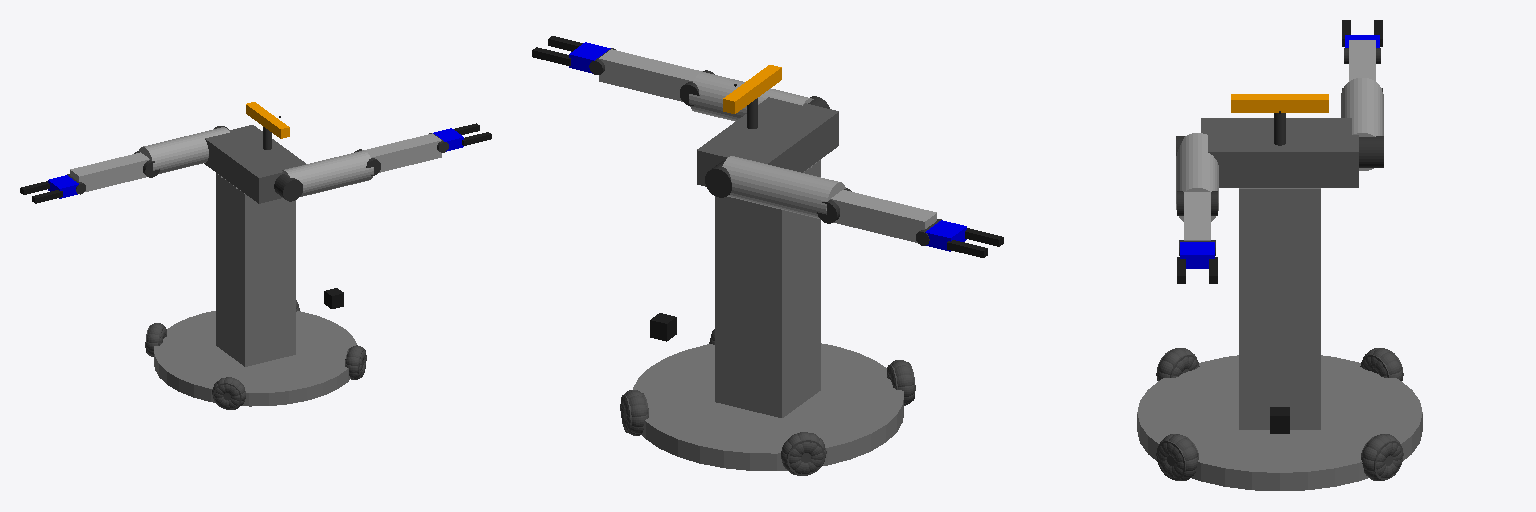
--- Facts derived from the render (not from the file) ---
The picture shows the robot from 3 angles, left to right: view 1: azimuth 30°, elevation 25°; view 2: azimuth 150°, elevation 25°; view 3: azimuth 270°, elevation 25°; orthographic projection.
Model amigo with 85 links and 84 joints (22 revolute, 52 continuous, 1 prismatic, 9 fixed), rooted at base_link, posed all joints at 0 but 2 set to mid-range because 0 is outside their limits (wrist_pitch_joint_left = -1.57, wrist_pitch_joint_right = -1.57).
Links seen in each view (by area): view 1: base_link, base, torso_slider, torso, upper_arm_right, upper_arm_left, fore_arm_left, fore_arm_right, head, shoulder_link1_right; view 2: base_link, torso_slider, base, torso, upper_arm_left, fore_arm_left, fore_arm_right, upper_arm_right, head, hand_left, shoulder_link1_left, hand_right (+1 smaller); view 3: base_link, torso_slider, torso, base, upper_arm_right, upper_arm_left, head, fore_arm_right, fore_arm_left, hand_right, shoulder_link1_left, base_laser.
Boxes of the visible links, x1,y1,x2,y2 form: base_link: (154, 311, 356, 406); base: (216, 174, 295, 366); torso_slider: (216, 173, 295, 366); torso: (204, 125, 305, 203); upper_arm_right: (282, 150, 373, 196); upper_arm_left: (139, 127, 229, 173); fore_arm_left: (70, 152, 149, 191); fore_arm_right: (362, 133, 441, 172); head: (246, 102, 289, 138); shoulder_link1_right: (274, 174, 302, 201); base_link: (633, 343, 903, 470); torso_slider: (715, 160, 820, 417); base: (715, 161, 820, 417); torso: (697, 97, 838, 186); upper_arm_left: (722, 156, 845, 218); fore_arm_left: (830, 190, 936, 242); fore_arm_right: (599, 49, 702, 101); upper_arm_right: (689, 72, 813, 121); head: (723, 65, 781, 113); hand_left: (925, 220, 966, 251); shoulder_link1_left: (705, 160, 731, 197); hand_right: (569, 42, 610, 73); base_link: (1137, 355, 1422, 490); torso_slider: (1239, 188, 1320, 309); torso: (1201, 118, 1358, 187); base: (1239, 310, 1320, 429); upper_arm_right: (1176, 133, 1218, 221); upper_arm_left: (1341, 78, 1383, 170); head: (1231, 94, 1328, 112); fore_arm_right: (1184, 192, 1210, 240); fore_arm_left: (1349, 40, 1375, 81); hand_right: (1180, 242, 1214, 268); shoulder_link1_left: (1359, 136, 1383, 167); base_laser: (1270, 407, 1289, 433).
Size in the robot's own frame: 1.57 by 0.7 by 0.9407 metres.
Geometry: primitives only (box / cylinder / sphere), no mesh files.

URDF robot description (amigo):
<?xml version="1.0" ?>
<!-- =================================================================================== -->
<!-- |    This document was autogenerated by xacro from robot.urdf.xacro               | -->
<!-- |    EDITING THIS FILE BY HAND IS NOT RECOMMENDED                                 | -->
<!-- =================================================================================== -->
<robot name="amigo" xmlns:controller="http://playerstage.sourceforge.net/gazebo/xmlschema/#controller" xmlns:interface="http://playerstage.sourceforge.net/gazebo/xmlschema/#interface" xmlns:sensor="http://playerstage.sourceforge.net/gazebo/xmlschema/#sensor" xmlns:xacro="http://ros.org/wiki/xacro">
  <!--get plugins -->
  <gazebo>
    <controller:gazebo_ros_time name="gazebo_ros_time" plugin="libgazebo_ros_time.so">
      <alwaysOn>true</alwaysOn>
      <updateRate>1000.0</updateRate>
      <interface:audio name="dummy_gazebo_ros_time_iface_should_not_be_here"/>
    </controller:gazebo_ros_time>
    <controller:gazebo_ros_controller_manager name="gazebo_ros_controller_manager" plugin="libgazebo_ros_controller_manager.so">
      <alwaysOn>true</alwaysOn>
      <updateRate>1000.0</updateRate>
      <interface:audio name="gazebo_ros_controller_manager_dummy_iface"/>
    </controller:gazebo_ros_controller_manager>
    <controller:gazebo_ros_imu name="imu_controller" plugin="libgazebo_ros_imu.so">
      <alwaysOn>true</alwaysOn>
      <updateRate>1000.0</updateRate>
      <bodyName>base_link</bodyName>
      <topicName>body_pose_ground_truth</topicName>
      <xyzOffsets>0.0 0.0 0</xyzOffsets>
      <rpyOffsets>0 0 0</rpyOffsets>
      <interface:position name="imu_position_iface"/>
    </controller:gazebo_ros_imu>
    <controller:gazebo_ros_p3d name="base_controller" plugin="libgazebo_ros_p3d.so">
      <alwaysOn>true</alwaysOn>
      <updateRate>100.0</updateRate>
      <bodyName>base_link</bodyName>
      <topicName>base_pose_ground_truth</topicName>
      <gaussianNoise>0.01</gaussianNoise>
      <frameName>map</frameName>
      <xyzOffsets>25.7 25.7 0</xyzOffsets>
      <!-- initialize odometry for fake localization-->
      <rpyOffsets>0 0 0</rpyOffsets>
      <interface:position name="p3d_base_position"/>
    </controller:gazebo_ros_p3d>
  </gazebo>
  <gazebo reference="base_laser">
    <sensor:ray name="base_ray_sensor">
      <origin>0.0 0.0 0.0</origin>
      <rayCount>683</rayCount>
      <rangeCount>683</rangeCount>
      <laserCount>1</laserCount>
      <displayRays>false</displayRays>
      <minAngle>-135</minAngle>
      <maxAngle> 135</maxAngle>
      <minRange>0.05</minRange>
      <maxRange>10.0</maxRange>
      <resRange>0.01</resRange>
      <updateRate>100.0</updateRate>
      <controller:gazebo_ros_laser name="base_ros_ray_sensor_controller" plugin="libgazebo_ros_laser.so">
        <gaussianNoise>0.005</gaussianNoise>
        <alwaysOn>true</alwaysOn>
        <updateRate>15.0</updateRate>
        <topicName>base_scan</topicName>
        <frameName>/base_laser</frameName>
        <interface:laser name="base_ros_ray_sensor_iface"/>
      </controller:gazebo_ros_laser>
    </sensor:ray>
  </gazebo>
  <gazebo reference="top_laser">
    <sensor:ray name="top_ray_sensor">
      <origin>0.0 0.0 0.0</origin>
      <rayCount>683</rayCount>
      <rangeCount>683</rangeCount>
      <laserCount>1</laserCount>
      <displayRays>false</displayRays>
      <minAngle>-135</minAngle>
      <maxAngle> 135</maxAngle>
      <minRange>0.05</minRange>
      <maxRange>10.0</maxRange>
      <resRange>0.01</resRange>
      <updateRate>100.0</updateRate>
      <controller:gazebo_ros_laser name="top_ros_ray_sensor_controller" plugin="libgazebo_ros_laser.so">
        <gaussianNoise>0.005</gaussianNoise>
        <alwaysOn>true</alwaysOn>
        <updateRate>15.0</updateRate>
        <topicName>top_scan</topicName>
        <frameName>/top_laser</frameName>
        <interface:laser name="top_ros_ray_sensor_iface"/>
      </controller:gazebo_ros_laser>
    </sensor:ray>
  </gazebo>
  <gazebo reference="camera_center">
    <sensor:camera name="camera_center_sensor">
      <controller:gazebo_ros_camera name="controller_center-name" plugin="libgazebo_ros_camera.so">
        <alwaysOn>true</alwaysOn>
        <updateRate>15.0</updateRate>
        <imageTopicName>/center/image_raw</imageTopicName>
        <cameraInfoTopicName>/center/camera_info</cameraInfoTopicName>
        <frameName>/camera_tf</frameName>
      </controller:gazebo_ros_camera>
    </sensor:camera>
  </gazebo>
  <!--get link & joint definitions -->
  <!--========BUILD BODY======-->
  <link name="base">
    <inertial>
      <origin rpy="0 0 0" xyz="0.0 0.0 0.0"/>
      <mass value="20"/>
      <inertia ixx="2.63" ixy="0" ixz="0" iyy="2.63" iyz="0" izz="2.4"/>
    </inertial>
    <visual>
      <origin rpy="0 0 0" xyz="0.0 0.0 0.0"/>
      <geometry>
        <box size="0.2 0.2 0.655"/>
      </geometry>
      <material name="Red">
        <color rgba="0.5 0.5 0.5  1.0"/>
      </material>
    </visual>
    <collision>
      <origin rpy="0 0 0" xyz="0.0 0.0 0.0"/>
      <geometry>
        <box size="0.2 0.2 0.655"/>
      </geometry>
    </collision>
  </link>
  <gazebo reference="base">
    <material>Gazebo/Red</material>
    <turnGravityOff>false</turnGravityOff>
  </gazebo>
  <link name="torso_slider">
    <inertial>
      <origin rpy="0 0 0" xyz="0.0 0.0 0.0"/>
      <mass value="0.1"/>
      <inertia ixx="0.1" ixy="0" ixz="0" iyy="0.1" iyz="0" izz="0.1"/>
    </inertial>
    <visual>
      <origin rpy="0 0 0" xyz="0.0 0.0 0.0"/>
      <geometry>
        <box size="0.2 0.2 0.655"/>
      </geometry>
      <material name="Red">
        <color rgba="0.5 0.5 0.5  1.0"/>
      </material>
    </visual>
    <collision>
      <origin rpy="0 0 0" xyz="0.0 0.0 0.0"/>
      <geometry>
        <box size="0.2 0.2 0.655"/>
      </geometry>
    </collision>
  </link>
  <gazebo reference="torso_slider">
    <material>Gazebo/Red</material>
    <turnGravityOff>false</turnGravityOff>
  </gazebo>
  <link name="base_link">
    <inertial>
      <origin rpy="0 0 0" xyz="0.0 0.0 0.0"/>
      <mass value="20"/>
      <inertia ixx="0.001" ixy="0" ixz="0" iyy="0.001" iyz="0" izz="0.001"/>
    </inertial>
    <visual>
      <origin rpy="0 0 0" xyz="0.0 0.0 0.0"/>
      <geometry>
        <cylinder length="0.05" radius="0.35"/>
      </geometry>
      <material name="Red">
        <color rgba="0.5 0.5 0.5  1.0"/>
      </material>
    </visual>
    <collision>
      <origin rpy="0 0 0" xyz="0.0 0.0 0.0"/>
      <geometry>
        <cylinder length="0.05" radius="0.35"/>
      </geometry>
    </collision>
  </link>
  <gazebo reference="base_link">
    <material>Gazebo/Red</material>
    <turnGravityOff>false</turnGravityOff>
  </gazebo>
  <link name="torso">
    <inertial>
      <origin rpy="0 0 0" xyz="0.0475 0.0 0.0"/>
      <mass value="16"/>
      <inertia ixx="0.01" ixy="0" ixz="0" iyy="0.01" iyz="0" izz="0.01"/>
    </inertial>
    <visual>
      <origin rpy="1.5708 1.5708 1.5708" xyz="0.0475 0.0 0.0"/>
      <geometry>
        <box size="0.2  0.387 0.097   "/>
      </geometry>
      <material name="Green">
        <color rgba="0.4 0.4 0.4 1.0"/>
      </material>
    </visual>
    <collision>
      <origin rpy="1.5708 1.5708 1.5708" xyz="0.0475 0.0 0.0"/>
      <geometry>
        <box size="0.2  0.387 0.097   "/>
      </geometry>
    </collision>
  </link>
  <gazebo reference="torso">
    <material>Gazebo/Green</material>
    <turnGravityOff>false</turnGravityOff>
  </gazebo>
  <joint name="spindle_joint" type="prismatic">
    <parent link="base"/>
    <child link="torso"/>
    <axis xyz="1 0 0"/>
    <origin rpy="3.14159265 -1.5708 0" xyz="0.0 0.0 0.3325"/>
    <dynamics damping="3" friction="0.0"/>
    <!--*-->
    <limit effort="30" lower="0.0" upper="0.41" velocity="1.0"/>
    <!--*-->
  </joint>
  <joint name="base_link_joint" type="fixed">
    <parent link="base_link"/>
    <child link="base"/>
    <axis xyz="1 0 0"/>
    <origin rpy="0 0 0" xyz="0.0 0.0 0.3475"/>
  </joint>
  <joint name="torso_slider_joint" type="fixed">
    <parent link="torso"/>
    <child link="torso_slider"/>
    <axis xyz="1 0 0"/>
    <origin rpy="0 1.57 0" xyz="  -0.33 0.0 0.0"/>
  </joint>
  <!--========BUILD HEAD======-->
  <link name="head_mount">
    <inertial>
      <origin rpy="0 0 0" xyz="0.0 0.0 0.0"/>
      <mass value="0.05"/>
      <inertia ixx="0.0001" ixy="0" ixz="0" iyy="0.0001" iyz="0" izz="0.0001"/>
    </inertial>
    <visual>
      <origin rpy="0 0 0" xyz="0.0 0.0 0.0"/>
      <geometry>
        <box size="0.01 0.01  0.01 "/>
      </geometry>
      <material name="Blue">
        <color rgba="0.25 0.25 0.25 1.0"/>
      </material>
    </visual>
    <collision>
      <origin rpy="0 0 0" xyz="0.0 0.0 0.0"/>
      <geometry>
        <box size="0.01 0.01  0.01 "/>
      </geometry>
    </collision>
  </link>
  <gazebo reference="head_mount">
    <material>Gazebo/Blue</material>
    <turnGravityOff>false</turnGravityOff>
  </gazebo>
  <link name="neck_pan">
    <inertial>
      <origin rpy="0 0 0" xyz="0.0 0.0 0.0335"/>
      <mass value="0.05"/>
      <inertia ixx="0.0001" ixy="0" ixz="0" iyy="0.0001" iyz="0" izz="0.0001"/>
    </inertial>
    <visual>
      <origin rpy="0 0 0" xyz="0.0 0.0 0.0335"/>
      <geometry>
        <cylinder length="0.08" radius="0.015"/>
      </geometry>
      <material name="Blue">
        <color rgba="0.25 0.25 0.25 1.0"/>
      </material>
    </visual>
    <collision>
      <origin rpy="0 0 0" xyz="0.0 0.0 0.0335"/>
      <geometry>
        <cylinder length="0.08" radius="0.015"/>
      </geometry>
    </collision>
  </link>
  <gazebo reference="neck_pan">
    <material>Gazebo/Blue</material>
    <turnGravityOff>false</turnGravityOff>
  </gazebo>
  <link name="head">
    <inertial>
      <origin rpy="0 0 0" xyz="0.0 -0.0 0.0"/>
      <mass value="0.7"/>
      <inertia ixx="0.001" ixy="0" ixz="0" iyy="0.001" iyz="0" izz="0.001"/>
    </inertial>
    <visual>
      <origin rpy="0 0 0" xyz="0.0 -0.0 0.0"/>
      <geometry>
        <box size="0.036 0.24  0.036 "/>
      </geometry>
      <material name="Yellow">
        <color rgba="1 0.64 0 1.0"/>
      </material>
    </visual>
    <collision>
      <origin rpy="0 0 0" xyz="0.0 -0.0 0.0"/>
      <geometry>
        <box size="0.036 0.24  0.036 "/>
      </geometry>
    </collision>
  </link>
  <gazebo reference="head">
    <material>Gazebo/Yellow</material>
    <turnGravityOff>false</turnGravityOff>
  </gazebo>
  <link name="neck_tilt">
    <inertial>
      <origin rpy="0 0 0" xyz="0.0 -0.0 0.0285"/>
      <mass value="0.05"/>
      <inertia ixx="0.001" ixy="0" ixz="0" iyy="0.001" iyz="0" izz="0.001"/>
    </inertial>
    <visual>
      <origin rpy="0 0 0" xyz="0.0 -0.0 0.0285"/>
      <geometry>
        <cylinder length="0.057" radius="0.015"/>
      </geometry>
      <material name="Blue">
        <color rgba="0.25 0.25 0.25 1.0"/>
      </material>
    </visual>
    <collision>
      <origin rpy="0 0 0" xyz="0.0 -0.0 0.0285"/>
      <geometry>
        <cylinder length="0.057" radius="0.015"/>
      </geometry>
    </collision>
  </link>
  <gazebo reference="neck_tilt">
    <material>Gazebo/Blue</material>
    <turnGravityOff>false</turnGravityOff>
  </gazebo>
  <link name="camera_center">
    <inertial>
      <origin rpy="0 0 0" xyz="0.0 0.0 0.0"/>
      <mass value="0.01"/>
      <inertia ixx="0.00001" ixy="0" ixz="0" iyy="0.00001" iyz="0" izz="0.00001"/>
    </inertial>
    <visual>
      <origin rpy="0 0 0" xyz="0.0 0.0 0.0"/>
      <geometry>
        <box size="0.01 0.01 0.01"/>
      </geometry>
      <material name="Blue">
        <color rgba="0.25 0.25 0.25 1.0"/>
      </material>
    </visual>
    <collision>
      <origin rpy="0 0 0" xyz="0.0 0.0 0.0"/>
      <geometry>
        <box size="0.01 0.01 0.01"/>
      </geometry>
    </collision>
  </link>
  <gazebo reference="camera_center">
    <material>Gazebo/Blue</material>
    <turnGravityOff>false</turnGravityOff>
  </gazebo>
  <link name="camera_tf">
    <inertial>
      <origin rpy="0 0 0" xyz="0.0 0.0 0.0"/>
      <mass value="0.01"/>
      <inertia ixx="0.00001" ixy="0" ixz="0" iyy="0.00001" iyz="0" izz="0.00001"/>
    </inertial>
    <visual>
      <origin rpy="0 0 0" xyz="0.0 0.0 0.0"/>
      <geometry>
        <box size="0.001 0.001 0.001"/>
      </geometry>
      <material name="Blue">
        <color rgba="0.25 0.25 0.25 1.0"/>
      </material>
    </visual>
    <collision>
      <origin rpy="0 0 0" xyz="0.0 0.0 0.0"/>
      <geometry>
        <box size="0.001 0.001 0.001"/>
      </geometry>
    </collision>
  </link>
  <gazebo reference="camera_tf">
    <material>Gazebo/Blue</material>
    <turnGravityOff>false</turnGravityOff>
  </gazebo>
  <link name="openni_camera">
    <inertial>
      <origin rpy="0 0 0" xyz="0.0 0.0 0.0"/>
      <mass value="0.01"/>
      <inertia ixx="0.00001" ixy="0" ixz="0" iyy="0.00001" iyz="0" izz="0.00001"/>
    </inertial>
    <visual>
      <origin rpy="0 0 0" xyz="0.0 0.0 0.0"/>
      <geometry>
        <box size="0.001 0.001 0.001"/>
      </geometry>
      <material name="Blue">
        <color rgba="0.25 0.25 0.25 1.0"/>
      </material>
    </visual>
    <collision>
      <origin rpy="0 0 0" xyz="0.0 0.0 0.0"/>
      <geometry>
        <box size="0.001 0.001 0.001"/>
      </geometry>
    </collision>
  </link>
  <gazebo reference="openni_camera">
    <material>Gazebo/Blue</material>
    <turnGravityOff>false</turnGravityOff>
  </gazebo>
  <joint name="head_mount_joint" type="fixed">
    <parent link="torso"/>
    <child link="head_mount"/>
    <axis xyz="0  0 1"/>
    <origin rpy="  0.0 0.0 0.0" xyz="0.097 0.0 0.046"/>
  </joint>
  <joint name="neck_pan_joint" type="revolute">
    <parent link="head_mount"/>
    <child link="neck_pan"/>
    <origin rpy="3.14 -1.5708 0.0" xyz="0.0 0.0 0.0"/>
    <axis xyz="0 0 1"/>
    <dynamics damping="0.1" friction="0"/>
    <limit effort="13.4" lower="-1.5708" upper="1.5708" velocity="1.0"/>
  </joint>
  <joint name="neck_tilt_joint" type="revolute">
    <parent link="neck_pan"/>
    <child link="neck_tilt"/>
    <origin rpy="0.0 0.0 0.0" xyz="0.0 0.0 0.0445"/>
    <axis xyz="0 1 0"/>
    <dynamics damping="0.1" friction="0.0"/>
    <limit effort="13.4" lower="-2.0" upper="2.0" velocity="1.0"/>
  </joint>
  <joint name="camera_center_joint" type="fixed">
    <parent link="head"/>
    <child link="camera_center"/>
    <axis xyz="0  0 1"/>
    <origin rpy=" 0.0 0.0 0.0" xyz="0.0 0.0  0.0"/>
  </joint>
  <joint name="camera_tf_joint" type="fixed">
    <parent link="head"/>
    <child link="camera_tf"/>
    <axis xyz="0  0 1"/>
    <origin rpy="-1.5708 0.0 -1.5708" xyz="0.0 0.0  0.0"/>
  </joint>
  <joint name="head_joint" type="fixed">
    <parent link="neck_tilt"/>
    <child link="head"/>
    <axis xyz="0  0 1"/>
    <origin rpy="  0.0 0.0 0.0" xyz="0.0 0.0 0.061"/>
  </joint>
  <joint name="kinect_joint" type="fixed">
    <parent link="head"/>
    <!--checked-->
    <child link="openni_camera"/>
    <axis xyz="0  0 1"/>
    <origin rpy="  0.0 0.0 0.0" xyz="0.026 0.018 0.0"/>
  </joint>
  <!--========BUILD LASER======-->
  <link name="base_laser">
    <inertial>
      <origin rpy="0 0 0" xyz="0.0 0.0 0.0"/>
      <mass value="0.5"/>
      <inertia ixx="0.0001" ixy="0" ixz="0" iyy="0.0001" iyz="0" izz="0.0001"/>
    </inertial>
    <visual>
      <origin rpy="0 0 0" xyz="0.0 0.0 0.0"/>
      <geometry>
        <box size="0.05 0.05 0.05"/>
      </geometry>
      <material name="Black">
        <color rgba="0.15 0.15 0.15 1.0"/>
      </material>
    </visual>
    <collision>
      <origin rpy="0 0 0" xyz="0.0 0.0 0.0"/>
      <geometry>
        <box size="0.05 0.05 0.05"/>
      </geometry>
    </collision>
  </link>
  <gazebo reference="base_laser">
    <material>Gazebo/Black</material>
    <turnGravityOff>false</turnGravityOff>
  </gazebo>
  <link name="top_laser">
    <inertial>
      <origin rpy="0 0 0" xyz="0.0 0.0 0.0"/>
      <mass value="0.005"/>
      <inertia ixx="0.0001" ixy="0" ixz="0" iyy="0.0001" iyz="0" izz="0.0001"/>
    </inertial>
    <visual>
      <origin rpy="0 0 0" xyz="0.0 0.0 0.0"/>
      <geometry>
        <box size="0.005 0.005 0.005"/>
      </geometry>
      <material name="Black">
        <color rgba="0.15 0.15 0.15 1.0"/>
      </material>
    </visual>
    <collision>
      <origin rpy="0 0 0" xyz="0.0 0.0 0.0"/>
      <geometry>
        <box size="0.005 0.005 0.005"/>
      </geometry>
    </collision>
  </link>
  <gazebo reference="top_laser">
    <material>Gazebo/Black</material>
    <turnGravityOff>false</turnGravityOff>
  </gazebo>
  <joint name="base_laser_joint" type="revolute">
    <parent link="base"/>
    <child link="base_laser"/>
    <origin rpy="0 0 0" xyz="0.31 0.0 -0.2"/>
    <axis xyz="0 1 0"/>
    <dynamics damping="0.1" friction="0"/>
    <limit effort="13.4" lower="-0.7809" upper="1.5708" velocity="1.0"/>
  </joint>
  <joint name="top_laser_joint" type="revolute">
    <parent link="head"/>
    <child link="top_laser"/>
    <origin rpy=" 0 0 0" xyz="0.05 0.0 0.0"/>
    <axis xyz="0 1 0"/>
    <dynamics damping="0.1" friction="0"/>
    <limit effort="13.4" lower="-1.5708" upper="1.5708" velocity="1.0"/>
  </joint>
  <!--========BUILD BASE KINECT======-->
  <!--<include filename="$(find amigo_robot_model)/base_kinect/base_kinect.urdf.xacro" />-->
  <!--========BUILD WHEELS======-->
  <joint name="omni_sphere1_joint_left_front" type="continuous">
    <parent link="wheel_left_front"/>
    <child link="omni_sphere1_left_front"/>
    <axis xyz="0 1 0"/>
    <origin rpy="0.0 0 0" xyz="0.0 0.03 0.0"/>
    <dynamics damping="0.01" friction="0.0"/>
    <limit effort="0.5" velocity="0.05"/>
  </joint>
  <link name="omni_sphere1_left_front">
    <inertial>
      <origin rpy="0 0 0" xyz="0.0 0.0 0.0"/>
      <mass value="0.05"/>
      <inertia ixx="0.000018" ixy="0" ixz="0" iyy="0.000018" iyz="0" izz="0.000018"/>
    </inertial>
    <visual>
      <origin rpy="0 0 0" xyz="0.0 0.0 0.0"/>
      <geometry>
        <sphere radius="0.03"/>
      </geometry>
      <material name="Blue">
        <color rgba="0.33 0.33 0.33 1.0"/>
      </material>
    </visual>
    <collision>
      <origin rpy="0 0 0" xyz="0.0 0.0 0.0"/>
      <geometry>
        <sphere radius="0.03"/>
      </geometry>
    </collision>
  </link>
  <gazebo reference="omni_sphere1_left_front">
    <material>Gazebo/Blue</material>
    <turnGravityOff>false</turnGravityOff>
  </gazebo>
  <joint name="omni_sphere1_joint_right_front" type="continuous">
    <parent link="wheel_right_front"/>
    <child link="omni_sphere1_right_front"/>
    <axis xyz="0 1 0"/>
    <origin rpy="0.0 0 0" xyz="0.0 0.03 0.0"/>
    <dynamics damping="0.01" friction="0.0"/>
    <limit effort="0.5" velocity="0.05"/>
  </joint>
  <link name="omni_sphere1_right_front">
    <inertial>
      <origin rpy="0 0 0" xyz="0.0 0.0 0.0"/>
      <mass value="0.05"/>
      <inertia ixx="0.000018" ixy="0" ixz="0" iyy="0.000018" iyz="0" izz="0.000018"/>
    </inertial>
    <visual>
      <origin rpy="0 0 0" xyz="0.0 0.0 0.0"/>
      <geometry>
        <sphere radius="0.03"/>
      </geometry>
      <material name="Blue">
        <color rgba="0.33 0.33 0.33 1.0"/>
      </material>
    </visual>
    <collision>
      <origin rpy="0 0 0" xyz="0.0 0.0 0.0"/>
      <geometry>
        <sphere radius="0.03"/>
      </geometry>
    </collision>
  </link>
  <gazebo reference="omni_sphere1_right_front">
    <material>Gazebo/Blue</material>
    <turnGravityOff>false</turnGravityOff>
  </gazebo>
  <joint name="omni_sphere1_joint_left_rear" type="continuous">
    <parent link="wheel_left_rear"/>
    <child link="omni_sphere1_left_rear"/>
    <axis xyz="0 1 0"/>
    <origin rpy="0.0 0 0" xyz="0.0 0.03 0.0"/>
    <dynamics damping="0.01" friction="0.0"/>
    <limit effort="0.5" velocity="0.05"/>
  </joint>
  <link name="omni_sphere1_left_rear">
    <inertial>
      <origin rpy="0 0 0" xyz="0.0 0.0 0.0"/>
      <mass value="0.05"/>
      <inertia ixx="0.000018" ixy="0" ixz="0" iyy="0.000018" iyz="0" izz="0.000018"/>
    </inertial>
    <visual>
      <origin rpy="0 0 0" xyz="0.0 0.0 0.0"/>
      <geometry>
        <sphere radius="0.03"/>
      </geometry>
      <material name="Blue">
        <color rgba="0.33 0.33 0.33 1.0"/>
      </material>
    </visual>
    <collision>
      <origin rpy="0 0 0" xyz="0.0 0.0 0.0"/>
      <geometry>
        <sphere radius="0.03"/>
      </geometry>
    </collision>
  </link>
  <gazebo reference="omni_sphere1_left_rear">
    <material>Gazebo/Blue</material>
    <turnGravityOff>false</turnGravityOff>
  </gazebo>
  <joint name="omni_sphere1_joint_right_rear" type="continuous">
    <parent link="wheel_right_rear"/>
    <child link="omni_sphere1_right_rear"/>
    <axis xyz="0 1 0"/>
    <origin rpy="0.0 0 0" xyz="0.0 0.03 0.0"/>
    <dynamics damping="0.01" friction="0.0"/>
    <limit effort="0.5" velocity="0.05"/>
  </joint>
  <link name="omni_sphere1_right_rear">
    <inertial>
      <origin rpy="0 0 0" xyz="0.0 0.0 0.0"/>
      <mass value="0.05"/>
      <inertia ixx="0.000018" ixy="0" ixz="0" iyy="0.000018" iyz="0" izz="0.000018"/>
    </inertial>
    <visual>
      <origin rpy="0 0 0" xyz="0.0 0.0 0.0"/>
      <geometry>
        <sphere radius="0.03"/>
      </geometry>
      <material name="Blue">
        <color rgba="0.33 0.33 0.33 1.0"/>
      </material>
    </visual>
    <collision>
      <origin rpy="0 0 0" xyz="0.0 0.0 0.0"/>
      <geometry>
        <sphere radius="0.03"/>
      </geometry>
    </collision>
  </link>
  <gazebo reference="omni_sphere1_right_rear">
    <material>Gazebo/Blue</material>
    <turnGravityOff>false</turnGravityOff>
  </gazebo>
  <joint name="omni_sphere2_joint_left_front" type="continuous">
    <parent link="wheel_left_front"/>
    <child link="omni_sphere2_left_front"/>
    <axis xyz="0 1 0"/>
    <origin rpy="0.5236 0 0" xyz="0.0 0.026 0.015"/>
    <dynamics damping="0.01" friction="0.0"/>
    <limit effort="0.5" velocity="0.05"/>
  </joint>
  <link name="omni_sphere2_left_front">
    <inertial>
      <origin rpy="0 0 0" xyz="0.0 0.0 0.0"/>
      <mass value="0.05"/>
      <inertia ixx="0.000018" ixy="0" ixz="0" iyy="0.000018" iyz="0" izz="0.000018"/>
    </inertial>
    <visual>
      <origin rpy="0 0 0" xyz="0.0 0.0 0.0"/>
      <geometry>
        <sphere radius="0.03"/>
      </geometry>
      <material name="Blue">
        <color rgba="0.33 0.33 0.33 1.0"/>
      </material>
    </visual>
    <collision>
      <origin rpy="0 0 0" xyz="0.0 0.0 0.0"/>
      <geometry>
        <sphere radius="0.03"/>
      </geometry>
    </collision>
  </link>
  <gazebo reference="omni_sphere2_left_front">
    <material>Gazebo/Blue</material>
    <turnGravityOff>false</turnGravityOff>
  </gazebo>
  <joint name="omni_sphere2_joint_right_front" type="continuous">
    <parent link="wheel_right_front"/>
    <child link="omni_sphere2_right_front"/>
    <axis xyz="0 1 0"/>
    <origin rpy="0.5236 0 0" xyz="0.0 0.026 0.015"/>
    <dynamics damping="0.01" friction="0.0"/>
    <limit effort="0.5" velocity="0.05"/>
  </joint>
  <link name="omni_sphere2_right_front">
    <inertial>
      <origin rpy="0 0 0" xyz="0.0 0.0 0.0"/>
      <mass value="0.05"/>
      <inertia ixx="0.000018" ixy="0" ixz="0" iyy="0.000018" iyz="0" izz="0.000018"/>
    </inertial>
    <visual>
      <origin rpy="0 0 0" xyz="0.0 0.0 0.0"/>
      <geometry>
        <sphere radius="0.03"/>
      </geometry>
      <material name="Blue">
        <color rgba="0.33 0.33 0.33 1.0"/>
      </material>
    </visual>
    <collision>
      <origin rpy="0 0 0" xyz="0.0 0.0 0.0"/>
      <geometry>
        <sphere radius="0.03"/>
      </geometry>
    </collision>
  </link>
  <gazebo reference="omni_sphere2_right_front">
    <material>Gazebo/Blue</material>
    <turnGravityOff>false</turnGravityOff>
  </gazebo>
  <joint name="omni_sphere2_joint_left_rear" type="continuous">
    <parent link="wheel_left_rear"/>
    <child link="omni_sphere2_left_rear"/>
    <axis xyz="0 1 0"/>
    <origin rpy="0.5236 0 0" xyz="0.0 0.026 0.015"/>
    <dynamics damping="0.01" friction="0.0"/>
    <limit effort="0.5" velocity="0.05"/>
  </joint>
  <link name="omni_sphere2_left_rear">
    <inertial>
      <origin rpy="0 0 0" xyz="0.0 0.0 0.0"/>
      <mass value="0.05"/>
      <inertia ixx="0.000018" ixy="0" ixz="0" iyy="0.000018" iyz="0" izz="0.000018"/>
    </inertial>
    <visual>
      <origin rpy="0 0 0" xyz="0.0 0.0 0.0"/>
      <geometry>
        <sphere radius="0.03"/>
      </geometry>
      <material name="Blue">
        <color rgba="0.33 0.33 0.33 1.0"/>
      </material>
    </visual>
    <collision>
      <origin rpy="0 0 0" xyz="0.0 0.0 0.0"/>
      <geometry>
        <sphere radius="0.03"/>
      </geometry>
    </collision>
  </link>
  <gazebo reference="omni_sphere2_left_rear">
    <material>Gazebo/Blue</material>
    <turnGravityOff>false</turnGravityOff>
  </gazebo>
  <joint name="omni_sphere2_joint_right_rear" type="continuous">
    <parent link="wheel_right_rear"/>
    <child link="omni_sphere2_right_rear"/>
    <axis xyz="0 1 0"/>
    <origin rpy="0.5236 0 0" xyz="0.0 0.026 0.015"/>
    <dynamics damping="0.01" friction="0.0"/>
    <limit effort="0.5" velocity="0.05"/>
  </joint>
  <link name="omni_sphere2_right_rear">
    <inertial>
      <origin rpy="0 0 0" xyz="0.0 0.0 0.0"/>
      <mass value="0.05"/>
      <inertia ixx="0.000018" ixy="0" ixz="0" iyy="0.000018" iyz="0" izz="0.000018"/>
    </inertial>
    <visual>
      <origin rpy="0 0 0" xyz="0.0 0.0 0.0"/>
      <geometry>
        <sphere radius="0.03"/>
      </geometry>
      <material name="Blue">
        <color rgba="0.33 0.33 0.33 1.0"/>
      </material>
    </visual>
    <collision>
      <origin rpy="0 0 0" xyz="0.0 0.0 0.0"/>
      <geometry>
        <sphere radius="0.03"/>
      </geometry>
    </collision>
  </link>
  <gazebo reference="omni_sphere2_right_rear">
    <material>Gazebo/Blue</material>
    <turnGravityOff>false</turnGravityOff>
  </gazebo>
  <joint name="omni_sphere3_joint_left_front" type="continuous">
    <parent link="wheel_left_front"/>
    <child link="omni_sphere3_left_front"/>
    <axis xyz="0 1 0"/>
    <origin rpy="1.0472 0 0" xyz="0.0 0.015 0.026"/>
    <dynamics damping="0.01" friction="0.0"/>
    <limit effort="0.5" velocity="0.05"/>
  </joint>
  <link name="omni_sphere3_left_front">
    <inertial>
      <origin rpy="0 0 0" xyz="0.0 0.0 0.0"/>
      <mass value="0.05"/>
      <inertia ixx="0.000018" ixy="0" ixz="0" iyy="0.000018" iyz="0" izz="0.000018"/>
    </inertial>
    <visual>
      <origin rpy="0 0 0" xyz="0.0 0.0 0.0"/>
      <geometry>
        <sphere radius="0.03"/>
      </geometry>
      <material name="Blue">
        <color rgba="0.33 0.33 0.33 1.0"/>
      </material>
    </visual>
    <collision>
      <origin rpy="0 0 0" xyz="0.0 0.0 0.0"/>
      <geometry>
        <sphere radius="0.03"/>
      </geometry>
    </collision>
  </link>
  <gazebo reference="omni_sphere3_left_front">
    <material>Gazebo/Blue</material>
    <turnGravityOff>false</turnGravityOff>
  </gazebo>
  <joint name="omni_sphere3_joint_right_front" type="continuous">
    <parent link="wheel_right_front"/>
    <child link="omni_sphere3_right_front"/>
    <axis xyz="0 1 0"/>
    <origin rpy="1.0472 0 0" xyz="0.0 0.015 0.026"/>
    <dynamics damping="0.01" friction="0.0"/>
    <limit effort="0.5" velocity="0.05"/>
  </joint>
  <link name="omni_sphere3_right_front">
    <inertial>
      <origin rpy="0 0 0" xyz="0.0 0.0 0.0"/>
      <mass value="0.05"/>
      <inertia ixx="0.000018" ixy="0" ixz="0" iyy="0.000018" iyz="0" izz="0.000018"/>
    </inertial>
    <visual>
      <origin rpy="0 0 0" xyz="0.0 0.0 0.0"/>
      <geometry>
        <sphere radius="0.03"/>
      </geometry>
      <material name="Blue">
        <color rgba="0.33 0.33 0.33 1.0"/>
      </material>
    </visual>
    <collision>
      <origin rpy="0 0 0" xyz="0.0 0.0 0.0"/>
      <geometry>
        <sphere radius="0.03"/>
      </geometry>
    </collision>
  </link>
  <gazebo reference="omni_sphere3_right_front">
    <material>Gazebo/Blue</material>
    <turnGravityOff>false</turnGravityOff>
  </gazebo>
  <joint name="omni_sphere3_joint_left_rear" type="continuous">
    <parent link="wheel_left_rear"/>
    <child link="omni_sphere3_left_rear"/>
    <axis xyz="0 1 0"/>
    <origin rpy="1.0472 0 0" xyz="0.0 0.015 0.026"/>
    <dynamics damping="0.01" friction="0.0"/>
    <limit effort="0.5" velocity="0.05"/>
  </joint>
  <link name="omni_sphere3_left_rear">
    <inertial>
      <origin rpy="0 0 0" xyz="0.0 0.0 0.0"/>
      <mass value="0.05"/>
      <inertia ixx="0.000018" ixy="0" ixz="0" iyy="0.000018" iyz="0" izz="0.000018"/>
    </inertial>
    <visual>
      <origin rpy="0 0 0" xyz="0.0 0.0 0.0"/>
      <geometry>
        <sphere radius="0.03"/>
      </geometry>
      <material name="Blue">
        <color rgba="0.33 0.33 0.33 1.0"/>
      </material>
    </visual>
    <collision>
      <origin rpy="0 0 0" xyz="0.0 0.0 0.0"/>
      <geometry>
        <sphere radius="0.03"/>
      </geometry>
    </collision>
  </link>
  <gazebo reference="omni_sphere3_left_rear">
    <material>Gazebo/Blue</material>
    <turnGravityOff>false</turnGravityOff>
  </gazebo>
  <joint name="omni_sphere3_joint_right_rear" type="continuous">
    <parent link="wheel_right_rear"/>
    <child link="omni_sphere3_right_rear"/>
    <axis xyz="0 1 0"/>
    <origin rpy="1.0472 0 0" xyz="0.0 0.015 0.026"/>
    <dynamics damping="0.01" friction="0.0"/>
    <limit effort="0.5" velocity="0.05"/>
  </joint>
  <link name="omni_sphere3_right_rear">
    <inertial>
      <origin rpy="0 0 0" xyz="0.0 0.0 0.0"/>
      <mass value="0.05"/>
      <inertia ixx="0.000018" ixy="0" ixz="0" iyy="0.000018" iyz="0" izz="0.000018"/>
    </inertial>
    <visual>
      <origin rpy="0 0 0" xyz="0.0 0.0 0.0"/>
      <geometry>
        <sphere radius="0.03"/>
      </geometry>
      <material name="Blue">
        <color rgba="0.33 0.33 0.33 1.0"/>
      </material>
    </visual>
    <collision>
      <origin rpy="0 0 0" xyz="0.0 0.0 0.0"/>
      <geometry>
        <sphere radius="0.03"/>
      </geometry>
    </collision>
  </link>
  <gazebo reference="omni_sphere3_right_rear">
    <material>Gazebo/Blue</material>
    <turnGravityOff>false</turnGravityOff>
  </gazebo>
  <joint name="omni_sphere4_joint_left_front" type="continuous">
    <parent link="wheel_left_front"/>
    <child link="omni_sphere4_left_front"/>
    <axis xyz="0 1 0"/>
    <origin rpy="1.5708 0 0" xyz="0.0 0 0.03"/>
    <dynamics damping="0.01" friction="0.0"/>
    <limit effort="0.5" velocity="0.05"/>
  </joint>
  <link name="omni_sphere4_left_front">
    <inertial>
      <origin rpy="0 0 0" xyz="0.0 0.0 0.0"/>
      <mass value="0.05"/>
      <inertia ixx="0.000018" ixy="0" ixz="0" iyy="0.000018" iyz="0" izz="0.000018"/>
    </inertial>
    <visual>
      <origin rpy="0 0 0" xyz="0.0 0.0 0.0"/>
      <geometry>
        <sphere radius="0.03"/>
      </geometry>
      <material name="Blue">
        <color rgba="0.33 0.33 0.33 1.0"/>
      </material>
    </visual>
    <collision>
      <origin rpy="0 0 0" xyz="0.0 0.0 0.0"/>
      <geometry>
        <sphere radius="0.03"/>
      </geometry>
    </collision>
  </link>
  <gazebo reference="omni_sphere4_left_front">
    <material>Gazebo/Blue</material>
    <turnGravityOff>false</turnGravityOff>
  </gazebo>
  <joint name="omni_sphere4_joint_right_front" type="continuous">
    <parent link="wheel_right_front"/>
    <child link="omni_sphere4_right_front"/>
    <axis xyz="0 1 0"/>
    <origin rpy="1.5708 0 0" xyz="0.0 0 0.03"/>
    <dynamics damping="0.01" friction="0.0"/>
    <limit effort="0.5" velocity="0.05"/>
  </joint>
  <link name="omni_sphere4_right_front">
    <inertial>
      <origin rpy="0 0 0" xyz="0.0 0.0 0.0"/>
      <mass value="0.05"/>
      <inertia ixx="0.000018" ixy="0" ixz="0" iyy="0.000018" iyz="0" izz="0.000018"/>
    </inertial>
    <visual>
      <origin rpy="0 0 0" xyz="0.0 0.0 0.0"/>
      <geometry>
        <sphere radius="0.03"/>
      </geometry>
      <material name="Blue">
        <color rgba="0.33 0.33 0.33 1.0"/>
      </material>
    </visual>
    <collision>
      <origin rpy="0 0 0" xyz="0.0 0.0 0.0"/>
      <geometry>
        <sphere radius="0.03"/>
      </geometry>
    </collision>
  </link>
  <gazebo reference="omni_sphere4_right_front">
    <material>Gazebo/Blue</material>
    <turnGravityOff>false</turnGravityOff>
  </gazebo>
  <joint name="omni_sphere4_joint_left_rear" type="continuous">
    <parent link="wheel_left_rear"/>
    <child link="omni_sphere4_left_rear"/>
    <axis xyz="0 1 0"/>
    <origin rpy="1.5708 0 0" xyz="0.0 0 0.03"/>
    <dynamics damping="0.01" friction="0.0"/>
    <limit effort="0.5" velocity="0.05"/>
  </joint>
  <link name="omni_sphere4_left_rear">
    <inertial>
      <origin rpy="0 0 0" xyz="0.0 0.0 0.0"/>
      <mass value="0.05"/>
      <inertia ixx="0.000018" ixy="0" ixz="0" iyy="0.000018" iyz="0" izz="0.000018"/>
    </inertial>
    <visual>
      <origin rpy="0 0 0" xyz="0.0 0.0 0.0"/>
      <geometry>
        <sphere radius="0.03"/>
      </geometry>
      <material name="Blue">
        <color rgba="0.33 0.33 0.33 1.0"/>
      </material>
    </visual>
    <collision>
      <origin rpy="0 0 0" xyz="0.0 0.0 0.0"/>
      <geometry>
        <sphere radius="0.03"/>
      </geometry>
    </collision>
  </link>
  <gazebo reference="omni_sphere4_left_rear">
    <material>Gazebo/Blue</material>
    <turnGravityOff>false</turnGravityOff>
  </gazebo>
  <joint name="omni_sphere4_joint_right_rear" type="continuous">
    <parent link="wheel_right_rear"/>
    <child link="omni_sphere4_right_rear"/>
    <axis xyz="0 1 0"/>
    <origin rpy="1.5708 0 0" xyz="0.0 0 0.03"/>
    <dynamics damping="0.01" friction="0.0"/>
    <limit effort="0.5" velocity="0.05"/>
  </joint>
  <link name="omni_sphere4_right_rear">
    <inertial>
      <origin rpy="0 0 0" xyz="0.0 0.0 0.0"/>
      <mass value="0.05"/>
      <inertia ixx="0.000018" ixy="0" ixz="0" iyy="0.000018" iyz="0" izz="0.000018"/>
    </inertial>
    <visual>
      <origin rpy="0 0 0" xyz="0.0 0.0 0.0"/>
      <geometry>
        <sphere radius="0.03"/>
      </geometry>
      <material name="Blue">
        <color rgba="0.33 0.33 0.33 1.0"/>
      </material>
    </visual>
    <collision>
      <origin rpy="0 0 0" xyz="0.0 0.0 0.0"/>
      <geometry>
        <sphere radius="0.03"/>
      </geometry>
    </collision>
  </link>
  <gazebo reference="omni_sphere4_right_rear">
    <material>Gazebo/Blue</material>
    <turnGravityOff>false</turnGravityOff>
  </gazebo>
  <joint name="omni_sphere5_joint_left_front" type="continuous">
    <parent link="wheel_left_front"/>
    <child link="omni_sphere5_left_front"/>
    <axis xyz="0 1 0"/>
    <origin rpy="2.0944 0 0" xyz="0.0 -0.015 0.026"/>
    <dynamics damping="0.01" friction="0.0"/>
    <limit effort="0.5" velocity="0.05"/>
  </joint>
  <link name="omni_sphere5_left_front">
    <inertial>
      <origin rpy="0 0 0" xyz="0.0 0.0 0.0"/>
      <mass value="0.05"/>
      <inertia ixx="0.000018" ixy="0" ixz="0" iyy="0.000018" iyz="0" izz="0.000018"/>
    </inertial>
    <visual>
      <origin rpy="0 0 0" xyz="0.0 0.0 0.0"/>
      <geometry>
        <sphere radius="0.03"/>
      </geometry>
      <material name="Blue">
        <color rgba="0.33 0.33 0.33 1.0"/>
      </material>
    </visual>
    <collision>
      <origin rpy="0 0 0" xyz="0.0 0.0 0.0"/>
      <geometry>
        <sphere radius="0.03"/>
      </geometry>
    </collision>
  </link>
  <gazebo reference="omni_sphere5_left_front">
    <material>Gazebo/Blue</material>
    <turnGravityOff>false</turnGravityOff>
  </gazebo>
  <joint name="omni_sphere5_joint_right_front" type="continuous">
    <parent link="wheel_right_front"/>
    <child link="omni_sphere5_right_front"/>
    <axis xyz="0 1 0"/>
    <origin rpy="2.0944 0 0" xyz="0.0 -0.015 0.026"/>
    <dynamics damping="0.01" friction="0.0"/>
    <limit effort="0.5" velocity="0.05"/>
  </joint>
  <link name="omni_sphere5_right_front">
    <inertial>
      <origin rpy="0 0 0" xyz="0.0 0.0 0.0"/>
      <mass value="0.05"/>
      <inertia ixx="0.000018" ixy="0" ixz="0" iyy="0.000018" iyz="0" izz="0.000018"/>
    </inertial>
    <visual>
      <origin rpy="0 0 0" xyz="0.0 0.0 0.0"/>
      <geometry>
        <sphere radius="0.03"/>
      </geometry>
      <material name="Blue">
        <color rgba="0.33 0.33 0.33 1.0"/>
      </material>
    </visual>
    <collision>
      <origin rpy="0 0 0" xyz="0.0 0.0 0.0"/>
      <geometry>
        <sphere radius="0.03"/>
      </geometry>
    </collision>
  </link>
  <gazebo reference="omni_sphere5_right_front">
    <material>Gazebo/Blue</material>
    <turnGravityOff>false</turnGravityOff>
  </gazebo>
  <joint name="omni_sphere5_joint_left_rear" type="continuous">
    <parent link="wheel_left_rear"/>
    <child link="omni_sphere5_left_rear"/>
    <axis xyz="0 1 0"/>
    <origin rpy="2.0944 0 0" xyz="0.0 -0.015 0.026"/>
    <dynamics damping="0.01" friction="0.0"/>
    <limit effort="0.5" velocity="0.05"/>
  </joint>
  <link name="omni_sphere5_left_rear">
    <inertial>
      <origin rpy="0 0 0" xyz="0.0 0.0 0.0"/>
      <mass value="0.05"/>
      <inertia ixx="0.000018" ixy="0" ixz="0" iyy="0.000018" iyz="0" izz="0.000018"/>
    </inertial>
    <visual>
      <origin rpy="0 0 0" xyz="0.0 0.0 0.0"/>
      <geometry>
        <sphere radius="0.03"/>
      </geometry>
      <material name="Blue">
        <color rgba="0.33 0.33 0.33 1.0"/>
      </material>
    </visual>
    <collision>
      <origin rpy="0 0 0" xyz="0.0 0.0 0.0"/>
      <geometry>
        <sphere radius="0.03"/>
      </geometry>
    </collision>
  </link>
  <gazebo reference="omni_sphere5_left_rear">
    <material>Gazebo/Blue</material>
    <turnGravityOff>false</turnGravityOff>
  </gazebo>
  <joint name="omni_sphere5_joint_right_rear" type="continuous">
    <parent link="wheel_right_rear"/>
    <child link="omni_sphere5_right_rear"/>
    <axis xyz="0 1 0"/>
    <origin rpy="2.0944 0 0" xyz="0.0 -0.015 0.026"/>
    <dynamics damping="0.01" friction="0.0"/>
    <limit effort="0.5" velocity="0.05"/>
  </joint>
  <link name="omni_sphere5_right_rear">
    <inertial>
      <origin rpy="0 0 0" xyz="0.0 0.0 0.0"/>
      <mass value="0.05"/>
      <inertia ixx="0.000018" ixy="0" ixz="0" iyy="0.000018" iyz="0" izz="0.000018"/>
    </inertial>
    <visual>
      <origin rpy="0 0 0" xyz="0.0 0.0 0.0"/>
      <geometry>
        <sphere radius="0.03"/>
      </geometry>
      <material name="Blue">
        <color rgba="0.33 0.33 0.33 1.0"/>
      </material>
    </visual>
    <collision>
      <origin rpy="0 0 0" xyz="0.0 0.0 0.0"/>
      <geometry>
        <sphere radius="0.03"/>
      </geometry>
    </collision>
  </link>
  <gazebo reference="omni_sphere5_right_rear">
    <material>Gazebo/Blue</material>
    <turnGravityOff>false</turnGravityOff>
  </gazebo>
  <joint name="omni_sphere6_joint_left_front" type="continuous">
    <parent link="wheel_left_front"/>
    <child link="omni_sphere6_left_front"/>
    <axis xyz="0 1 0"/>
    <origin rpy="2.618 0 0" xyz="0.0 -0.026 0.015"/>
    <dynamics damping="0.01" friction="0.0"/>
    <limit effort="0.5" velocity="0.05"/>
  </joint>
  <link name="omni_sphere6_left_front">
    <inertial>
      <origin rpy="0 0 0" xyz="0.0 0.0 0.0"/>
      <mass value="0.05"/>
      <inertia ixx="0.000018" ixy="0" ixz="0" iyy="0.000018" iyz="0" izz="0.000018"/>
    </inertial>
    <visual>
      <origin rpy="0 0 0" xyz="0.0 0.0 0.0"/>
      <geometry>
        <sphere radius="0.03"/>
      </geometry>
      <material name="Blue">
        <color rgba="0.33 0.33 0.33 1.0"/>
      </material>
    </visual>
    <collision>
      <origin rpy="0 0 0" xyz="0.0 0.0 0.0"/>
      <geometry>
        <sphere radius="0.03"/>
      </geometry>
    </collision>
  </link>
  <gazebo reference="omni_sphere6_left_front">
    <material>Gazebo/Blue</material>
    <turnGravityOff>false</turnGravityOff>
  </gazebo>
  <joint name="omni_sphere6_joint_right_front" type="continuous">
    <parent link="wheel_right_front"/>
    <child link="omni_sphere6_right_front"/>
    <axis xyz="0 1 0"/>
    <origin rpy="2.618 0 0" xyz="0.0 -0.026 0.015"/>
    <dynamics damping="0.01" friction="0.0"/>
    <limit effort="0.5" velocity="0.05"/>
  </joint>
  <link name="omni_sphere6_right_front">
    <inertial>
      <origin rpy="0 0 0" xyz="0.0 0.0 0.0"/>
      <mass value="0.05"/>
      <inertia ixx="0.000018" ixy="0" ixz="0" iyy="0.000018" iyz="0" izz="0.000018"/>
    </inertial>
    <visual>
      <origin rpy="0 0 0" xyz="0.0 0.0 0.0"/>
      <geometry>
        <sphere radius="0.03"/>
      </geometry>
      <material name="Blue">
        <color rgba="0.33 0.33 0.33 1.0"/>
      </material>
    </visual>
    <collision>
      <origin rpy="0 0 0" xyz="0.0 0.0 0.0"/>
      <geometry>
        <sphere radius="0.03"/>
      </geometry>
    </collision>
  </link>
  <gazebo reference="omni_sphere6_right_front">
    <material>Gazebo/Blue</material>
    <turnGravityOff>false</turnGravityOff>
  </gazebo>
  <joint name="omni_sphere6_joint_left_rear" type="continuous">
    <parent link="wheel_left_rear"/>
    <child link="omni_sphere6_left_rear"/>
    <axis xyz="0 1 0"/>
    <origin rpy="2.618 0 0" xyz="0.0 -0.026 0.015"/>
    <dynamics damping="0.01" friction="0.0"/>
    <limit effort="0.5" velocity="0.05"/>
  </joint>
  <link name="omni_sphere6_left_rear">
    <inertial>
      <origin rpy="0 0 0" xyz="0.0 0.0 0.0"/>
      <mass value="0.05"/>
      <inertia ixx="0.000018" ixy="0" ixz="0" iyy="0.000018" iyz="0" izz="0.000018"/>
    </inertial>
    <visual>
      <origin rpy="0 0 0" xyz="0.0 0.0 0.0"/>
      <geometry>
        <sphere radius="0.03"/>
      </geometry>
      <material name="Blue">
        <color rgba="0.33 0.33 0.33 1.0"/>
      </material>
    </visual>
    <collision>
      <origin rpy="0 0 0" xyz="0.0 0.0 0.0"/>
      <geometry>
        <sphere radius="0.03"/>
      </geometry>
    </collision>
  </link>
  <gazebo reference="omni_sphere6_left_rear">
    <material>Gazebo/Blue</material>
    <turnGravityOff>false</turnGravityOff>
  </gazebo>
  <joint name="omni_sphere6_joint_right_rear" type="continuous">
    <parent link="wheel_right_rear"/>
    <child link="omni_sphere6_right_rear"/>
    <axis xyz="0 1 0"/>
    <origin rpy="2.618 0 0" xyz="0.0 -0.026 0.015"/>
    <dynamics damping="0.01" friction="0.0"/>
    <limit effort="0.5" velocity="0.05"/>
  </joint>
  <link name="omni_sphere6_right_rear">
    <inertial>
      <origin rpy="0 0 0" xyz="0.0 0.0 0.0"/>
      <mass value="0.05"/>
      <inertia ixx="0.000018" ixy="0" ixz="0" iyy="0.000018" iyz="0" izz="0.000018"/>
    </inertial>
    <visual>
      <origin rpy="0 0 0" xyz="0.0 0.0 0.0"/>
      <geometry>
        <sphere radius="0.03"/>
      </geometry>
      <material name="Blue">
        <color rgba="0.33 0.33 0.33 1.0"/>
      </material>
    </visual>
    <collision>
      <origin rpy="0 0 0" xyz="0.0 0.0 0.0"/>
      <geometry>
        <sphere radius="0.03"/>
      </geometry>
    </collision>
  </link>
  <gazebo reference="omni_sphere6_right_rear">
    <material>Gazebo/Blue</material>
    <turnGravityOff>false</turnGravityOff>
  </gazebo>
  <joint name="omni_sphere7_joint_left_front" type="continuous">
    <parent link="wheel_left_front"/>
    <child link="omni_sphere7_left_front"/>
    <axis xyz="0 1 0"/>
    <origin rpy="3.1416 0 0" xyz="0.0 -0.03 0.0"/>
    <dynamics damping="0.01" friction="0.0"/>
    <limit effort="0.5" velocity="0.05"/>
  </joint>
  <link name="omni_sphere7_left_front">
    <inertial>
      <origin rpy="0 0 0" xyz="0.0 0.0 0.0"/>
      <mass value="0.05"/>
      <inertia ixx="0.000018" ixy="0" ixz="0" iyy="0.000018" iyz="0" izz="0.000018"/>
    </inertial>
    <visual>
      <origin rpy="0 0 0" xyz="0.0 0.0 0.0"/>
      <geometry>
        <sphere radius="0.03"/>
      </geometry>
      <material name="Blue">
        <color rgba="0.33 0.33 0.33 1.0"/>
      </material>
    </visual>
    <collision>
      <origin rpy="0 0 0" xyz="0.0 0.0 0.0"/>
      <geometry>
        <sphere radius="0.03"/>
      </geometry>
    </collision>
  </link>
  <gazebo reference="omni_sphere7_left_front">
    <material>Gazebo/Blue</material>
    <turnGravityOff>false</turnGravityOff>
  </gazebo>
  <joint name="omni_sphere7_joint_right_front" type="continuous">
    <parent link="wheel_right_front"/>
    <child link="omni_sphere7_right_front"/>
    <axis xyz="0 1 0"/>
    <origin rpy="3.1416 0 0" xyz="0.0 -0.03 0.0"/>
    <dynamics damping="0.01" friction="0.0"/>
    <limit effort="0.5" velocity="0.05"/>
  </joint>
  <link name="omni_sphere7_right_front">
    <inertial>
      <origin rpy="0 0 0" xyz="0.0 0.0 0.0"/>
      <mass value="0.05"/>
      <inertia ixx="0.000018" ixy="0" ixz="0" iyy="0.000018" iyz="0" izz="0.000018"/>
    </inertial>
    <visual>
      <origin rpy="0 0 0" xyz="0.0 0.0 0.0"/>
      <geometry>
        <sphere radius="0.03"/>
      </geometry>
      <material name="Blue">
        <color rgba="0.33 0.33 0.33 1.0"/>
      </material>
    </visual>
    <collision>
      <origin rpy="0 0 0" xyz="0.0 0.0 0.0"/>
      <geometry>
        <sphere radius="0.03"/>
      </geometry>
    </collision>
  </link>
  <gazebo reference="omni_sphere7_right_front">
    <material>Gazebo/Blue</material>
    <turnGravityOff>false</turnGravityOff>
  </gazebo>
  <joint name="omni_sphere7_joint_left_rear" type="continuous">
    <parent link="wheel_left_rear"/>
    <child link="omni_sphere7_left_rear"/>
    <axis xyz="0 1 0"/>
    <origin rpy="3.1416 0 0" xyz="0.0 -0.03 0.0"/>
    <dynamics damping="0.01" friction="0.0"/>
    <limit effort="0.5" velocity="0.05"/>
  </joint>
  <link name="omni_sphere7_left_rear">
    <inertial>
      <origin rpy="0 0 0" xyz="0.0 0.0 0.0"/>
      <mass value="0.05"/>
      <inertia ixx="0.000018" ixy="0" ixz="0" iyy="0.000018" iyz="0" izz="0.000018"/>
    </inertial>
    <visual>
      <origin rpy="0 0 0" xyz="0.0 0.0 0.0"/>
      <geometry>
        <sphere radius="0.03"/>
      </geometry>
      <material name="Blue">
        <color rgba="0.33 0.33 0.33 1.0"/>
      </material>
    </visual>
    <collision>
      <origin rpy="0 0 0" xyz="0.0 0.0 0.0"/>
      <geometry>
        <sphere radius="0.03"/>
      </geometry>
    </collision>
  </link>
  <gazebo reference="omni_sphere7_left_rear">
    <material>Gazebo/Blue</material>
    <turnGravityOff>false</turnGravityOff>
  </gazebo>
  <joint name="omni_sphere7_joint_right_rear" type="continuous">
    <parent link="wheel_right_rear"/>
    <child link="omni_sphere7_right_rear"/>
    <axis xyz="0 1 0"/>
    <origin rpy="3.1416 0 0" xyz="0.0 -0.03 0.0"/>
    <dynamics damping="0.01" friction="0.0"/>
    <limit effort="0.5" velocity="0.05"/>
  </joint>
  <link name="omni_sphere7_right_rear">
    <inertial>
      <origin rpy="0 0 0" xyz="0.0 0.0 0.0"/>
      <mass value="0.05"/>
      <inertia ixx="0.000018" ixy="0" ixz="0" iyy="0.000018" iyz="0" izz="0.000018"/>
    </inertial>
    <visual>
      <origin rpy="0 0 0" xyz="0.0 0.0 0.0"/>
      <geometry>
        <sphere radius="0.03"/>
      </geometry>
      <material name="Blue">
        <color rgba="0.33 0.33 0.33 1.0"/>
      </material>
    </visual>
    <collision>
      <origin rpy="0 0 0" xyz="0.0 0.0 0.0"/>
      <geometry>
        <sphere radius="0.03"/>
      </geometry>
    </collision>
  </link>
  <gazebo reference="omni_sphere7_right_rear">
    <material>Gazebo/Blue</material>
    <turnGravityOff>false</turnGravityOff>
  </gazebo>
  <joint name="omni_sphere8_joint_left_front" type="continuous">
    <parent link="wheel_left_front"/>
    <child link="omni_sphere8_left_front"/>
    <axis xyz="0 1 0"/>
    <origin rpy="3.6652 0 0" xyz="0.0 -0.026 -0.015"/>
    <dynamics damping="0.01" friction="0.0"/>
    <limit effort="0.5" velocity="0.05"/>
  </joint>
  <link name="omni_sphere8_left_front">
    <inertial>
      <origin rpy="0 0 0" xyz="0.0 0.0 0.0"/>
      <mass value="0.05"/>
      <inertia ixx="0.000018" ixy="0" ixz="0" iyy="0.000018" iyz="0" izz="0.000018"/>
    </inertial>
    <visual>
      <origin rpy="0 0 0" xyz="0.0 0.0 0.0"/>
      <geometry>
        <sphere radius="0.03"/>
      </geometry>
      <material name="Blue">
        <color rgba="0.33 0.33 0.33 1.0"/>
      </material>
    </visual>
    <collision>
      <origin rpy="0 0 0" xyz="0.0 0.0 0.0"/>
      <geometry>
        <sphere radius="0.03"/>
      </geometry>
    </collision>
  </link>
  <gazebo reference="omni_sphere8_left_front">
    <material>Gazebo/Blue</material>
    <turnGravityOff>false</turnGravityOff>
  </gazebo>
  <joint name="omni_sphere8_joint_right_front" type="continuous">
    <parent link="wheel_right_front"/>
    <child link="omni_sphere8_right_front"/>
    <axis xyz="0 1 0"/>
    <origin rpy="3.6652 0 0" xyz="0.0 -0.026 -0.015"/>
    <dynamics damping="0.01" friction="0.0"/>
    <limit effort="0.5" velocity="0.05"/>
  </joint>
  <link name="omni_sphere8_right_front">
    <inertial>
      <origin rpy="0 0 0" xyz="0.0 0.0 0.0"/>
      <mass value="0.05"/>
      <inertia ixx="0.000018" ixy="0" ixz="0" iyy="0.000018" iyz="0" izz="0.000018"/>
    </inertial>
    <visual>
      <origin rpy="0 0 0" xyz="0.0 0.0 0.0"/>
      <geometry>
        <sphere radius="0.03"/>
      </geometry>
      <material name="Blue">
        <color rgba="0.33 0.33 0.33 1.0"/>
      </material>
    </visual>
    <collision>
      <origin rpy="0 0 0" xyz="0.0 0.0 0.0"/>
      <geometry>
        <sphere radius="0.03"/>
      </geometry>
    </collision>
  </link>
  <gazebo reference="omni_sphere8_right_front">
    <material>Gazebo/Blue</material>
    <turnGravityOff>false</turnGravityOff>
  </gazebo>
  <joint name="omni_sphere8_joint_left_rear" type="continuous">
    <parent link="wheel_left_rear"/>
    <child link="omni_sphere8_left_rear"/>
    <axis xyz="0 1 0"/>
    <origin rpy="3.6652 0 0" xyz="0.0 -0.026 -0.015"/>
    <dynamics damping="0.01" friction="0.0"/>
    <limit effort="0.5" velocity="0.05"/>
  </joint>
  <link name="omni_sphere8_left_rear">
    <inertial>
      <origin rpy="0 0 0" xyz="0.0 0.0 0.0"/>
      <mass value="0.05"/>
      <inertia ixx="0.000018" ixy="0" ixz="0" iyy="0.000018" iyz="0" izz="0.000018"/>
    </inertial>
    <visual>
      <origin rpy="0 0 0" xyz="0.0 0.0 0.0"/>
      <geometry>
        <sphere radius="0.03"/>
      </geometry>
      <material name="Blue">
        <color rgba="0.33 0.33 0.33 1.0"/>
      </material>
    </visual>
    <collision>
      <origin rpy="0 0 0" xyz="0.0 0.0 0.0"/>
      <geometry>
        <sphere radius="0.03"/>
      </geometry>
    </collision>
  </link>
  <gazebo reference="omni_sphere8_left_rear">
    <material>Gazebo/Blue</material>
    <turnGravityOff>false</turnGravityOff>
  </gazebo>
  <joint name="omni_sphere8_joint_right_rear" type="continuous">
    <parent link="wheel_right_rear"/>
    <child link="omni_sphere8_right_rear"/>
    <axis xyz="0 1 0"/>
    <origin rpy="3.6652 0 0" xyz="0.0 -0.026 -0.015"/>
    <dynamics damping="0.01" friction="0.0"/>
    <limit effort="0.5" velocity="0.05"/>
  </joint>
  <link name="omni_sphere8_right_rear">
    <inertial>
      <origin rpy="0 0 0" xyz="0.0 0.0 0.0"/>
      <mass value="0.05"/>
      <inertia ixx="0.000018" ixy="0" ixz="0" iyy="0.000018" iyz="0" izz="0.000018"/>
    </inertial>
    <visual>
      <origin rpy="0 0 0" xyz="0.0 0.0 0.0"/>
      <geometry>
        <sphere radius="0.03"/>
      </geometry>
      <material name="Blue">
        <color rgba="0.33 0.33 0.33 1.0"/>
      </material>
    </visual>
    <collision>
      <origin rpy="0 0 0" xyz="0.0 0.0 0.0"/>
      <geometry>
        <sphere radius="0.03"/>
      </geometry>
    </collision>
  </link>
  <gazebo reference="omni_sphere8_right_rear">
    <material>Gazebo/Blue</material>
    <turnGravityOff>false</turnGravityOff>
  </gazebo>
  <joint name="omni_sphere9_joint_left_front" type="continuous">
    <parent link="wheel_left_front"/>
    <child link="omni_sphere9_left_front"/>
    <axis xyz="0 1 0"/>
    <origin rpy="4.1888 0 0" xyz="0.0 -0.015 -0.026"/>
    <dynamics damping="0.01" friction="0.0"/>
    <limit effort="0.5" velocity="0.05"/>
  </joint>
  <link name="omni_sphere9_left_front">
    <inertial>
      <origin rpy="0 0 0" xyz="0.0 0.0 0.0"/>
      <mass value="0.05"/>
      <inertia ixx="0.000018" ixy="0" ixz="0" iyy="0.000018" iyz="0" izz="0.000018"/>
    </inertial>
    <visual>
      <origin rpy="0 0 0" xyz="0.0 0.0 0.0"/>
      <geometry>
        <sphere radius="0.03"/>
      </geometry>
      <material name="Blue">
        <color rgba="0.33 0.33 0.33 1.0"/>
      </material>
    </visual>
    <collision>
      <origin rpy="0 0 0" xyz="0.0 0.0 0.0"/>
      <geometry>
        <sphere radius="0.03"/>
      </geometry>
    </collision>
  </link>
  <gazebo reference="omni_sphere9_left_front">
    <material>Gazebo/Blue</material>
    <turnGravityOff>false</turnGravityOff>
  </gazebo>
  <joint name="omni_sphere9_joint_right_front" type="continuous">
    <parent link="wheel_right_front"/>
    <child link="omni_sphere9_right_front"/>
    <axis xyz="0 1 0"/>
    <origin rpy="4.1888 0 0" xyz="0.0 -0.015 -0.026"/>
    <dynamics damping="0.01" friction="0.0"/>
    <limit effort="0.5" velocity="0.05"/>
  </joint>
  <link name="omni_sphere9_right_front">
    <inertial>
      <origin rpy="0 0 0" xyz="0.0 0.0 0.0"/>
      <mass value="0.05"/>
      <inertia ixx="0.000018" ixy="0" ixz="0" iyy="0.000018" iyz="0" izz="0.000018"/>
    </inertial>
    <visual>
      <origin rpy="0 0 0" xyz="0.0 0.0 0.0"/>
      <geometry>
        <sphere radius="0.03"/>
      </geometry>
      <material name="Blue">
        <color rgba="0.33 0.33 0.33 1.0"/>
      </material>
    </visual>
    <collision>
      <origin rpy="0 0 0" xyz="0.0 0.0 0.0"/>
      <geometry>
        <sphere radius="0.03"/>
      </geometry>
    </collision>
  </link>
  <gazebo reference="omni_sphere9_right_front">
    <material>Gazebo/Blue</material>
    <turnGravityOff>false</turnGravityOff>
  </gazebo>
  <joint name="omni_sphere9_joint_left_rear" type="continuous">
    <parent link="wheel_left_rear"/>
    <child link="omni_sphere9_left_rear"/>
    <axis xyz="0 1 0"/>
    <origin rpy="4.1888 0 0" xyz="0.0 -0.015 -0.026"/>
    <dynamics damping="0.01" friction="0.0"/>
    <limit effort="0.5" velocity="0.05"/>
  </joint>
  <link name="omni_sphere9_left_rear">
    <inertial>
      <origin rpy="0 0 0" xyz="0.0 0.0 0.0"/>
      <mass value="0.05"/>
      <inertia ixx="0.000018" ixy="0" ixz="0" iyy="0.000018" iyz="0" izz="0.000018"/>
    </inertial>
    <visual>
      <origin rpy="0 0 0" xyz="0.0 0.0 0.0"/>
      <geometry>
        <sphere radius="0.03"/>
      </geometry>
      <material name="Blue">
        <color rgba="0.33 0.33 0.33 1.0"/>
      </material>
    </visual>
    <collision>
      <origin rpy="0 0 0" xyz="0.0 0.0 0.0"/>
      <geometry>
        <sphere radius="0.03"/>
      </geometry>
    </collision>
  </link>
  <gazebo reference="omni_sphere9_left_rear">
    <material>Gazebo/Blue</material>
    <turnGravityOff>false</turnGravityOff>
  </gazebo>
  <joint name="omni_sphere9_joint_right_rear" type="continuous">
    <parent link="wheel_right_rear"/>
    <child link="omni_sphere9_right_rear"/>
    <axis xyz="0 1 0"/>
    <origin rpy="4.1888 0 0" xyz="0.0 -0.015 -0.026"/>
    <dynamics damping="0.01" friction="0.0"/>
    <limit effort="0.5" velocity="0.05"/>
  </joint>
  <link name="omni_sphere9_right_rear">
    <inertial>
      <origin rpy="0 0 0" xyz="0.0 0.0 0.0"/>
      <mass value="0.05"/>
      <inertia ixx="0.000018" ixy="0" ixz="0" iyy="0.000018" iyz="0" izz="0.000018"/>
    </inertial>
    <visual>
      <origin rpy="0 0 0" xyz="0.0 0.0 0.0"/>
      <geometry>
        <sphere radius="0.03"/>
      </geometry>
      <material name="Blue">
        <color rgba="0.33 0.33 0.33 1.0"/>
      </material>
    </visual>
    <collision>
      <origin rpy="0 0 0" xyz="0.0 0.0 0.0"/>
      <geometry>
        <sphere radius="0.03"/>
      </geometry>
    </collision>
  </link>
  <gazebo reference="omni_sphere9_right_rear">
    <material>Gazebo/Blue</material>
    <turnGravityOff>false</turnGravityOff>
  </gazebo>
  <joint name="omni_sphere10_joint_left_front" type="continuous">
    <parent link="wheel_left_front"/>
    <child link="omni_sphere10_left_front"/>
    <axis xyz="0 1 0"/>
    <origin rpy="4.7124 0 0" xyz="0.0 0.0 -0.03"/>
    <dynamics damping="0.01" friction="0.0"/>
    <limit effort="0.5" velocity="0.05"/>
  </joint>
  <link name="omni_sphere10_left_front">
    <inertial>
      <origin rpy="0 0 0" xyz="0.0 0.0 0.0"/>
      <mass value="0.05"/>
      <inertia ixx="0.000018" ixy="0" ixz="0" iyy="0.000018" iyz="0" izz="0.000018"/>
    </inertial>
    <visual>
      <origin rpy="0 0 0" xyz="0.0 0.0 0.0"/>
      <geometry>
        <sphere radius="0.03"/>
      </geometry>
      <material name="Blue">
        <color rgba="0.33 0.33 0.33 1.0"/>
      </material>
    </visual>
    <collision>
      <origin rpy="0 0 0" xyz="0.0 0.0 0.0"/>
      <geometry>
        <sphere radius="0.03"/>
      </geometry>
    </collision>
  </link>
  <gazebo reference="omni_sphere10_left_front">
    <material>Gazebo/Blue</material>
    <turnGravityOff>false</turnGravityOff>
  </gazebo>
  <joint name="omni_sphere10_joint_right_front" type="continuous">
    <parent link="wheel_right_front"/>
    <child link="omni_sphere10_right_front"/>
    <axis xyz="0 1 0"/>
    <origin rpy="4.7124 0 0" xyz="0.0 0.0 -0.03"/>
    <dynamics damping="0.01" friction="0.0"/>
    <limit effort="0.5" velocity="0.05"/>
  </joint>
  <link name="omni_sphere10_right_front">
    <inertial>
      <origin rpy="0 0 0" xyz="0.0 0.0 0.0"/>
      <mass value="0.05"/>
      <inertia ixx="0.000018" ixy="0" ixz="0" iyy="0.000018" iyz="0" izz="0.000018"/>
    </inertial>
    <visual>
      <origin rpy="0 0 0" xyz="0.0 0.0 0.0"/>
      <geometry>
        <sphere radius="0.03"/>
      </geometry>
      <material name="Blue">
        <color rgba="0.33 0.33 0.33 1.0"/>
      </material>
    </visual>
    <collision>
      <origin rpy="0 0 0" xyz="0.0 0.0 0.0"/>
      <geometry>
        <sphere radius="0.03"/>
      </geometry>
    </collision>
  </link>
  <gazebo reference="omni_sphere10_right_front">
    <material>Gazebo/Blue</material>
    <turnGravityOff>false</turnGravityOff>
  </gazebo>
  <joint name="omni_sphere10_joint_left_rear" type="continuous">
    <parent link="wheel_left_rear"/>
    <child link="omni_sphere10_left_rear"/>
    <axis xyz="0 1 0"/>
    <origin rpy="4.7124 0 0" xyz="0.0 0.0 -0.03"/>
    <dynamics damping="0.01" friction="0.0"/>
    <limit effort="0.5" velocity="0.05"/>
  </joint>
  <link name="omni_sphere10_left_rear">
    <inertial>
      <origin rpy="0 0 0" xyz="0.0 0.0 0.0"/>
      <mass value="0.05"/>
      <inertia ixx="0.000018" ixy="0" ixz="0" iyy="0.000018" iyz="0" izz="0.000018"/>
    </inertial>
    <visual>
      <origin rpy="0 0 0" xyz="0.0 0.0 0.0"/>
      <geometry>
        <sphere radius="0.03"/>
      </geometry>
      <material name="Blue">
        <color rgba="0.33 0.33 0.33 1.0"/>
      </material>
    </visual>
    <collision>
      <origin rpy="0 0 0" xyz="0.0 0.0 0.0"/>
      <geometry>
        <sphere radius="0.03"/>
      </geometry>
    </collision>
  </link>
  <gazebo reference="omni_sphere10_left_rear">
    <material>Gazebo/Blue</material>
    <turnGravityOff>false</turnGravityOff>
  </gazebo>
  <joint name="omni_sphere10_joint_right_rear" type="continuous">
    <parent link="wheel_right_rear"/>
    <child link="omni_sphere10_right_rear"/>
    <axis xyz="0 1 0"/>
    <origin rpy="4.7124 0 0" xyz="0.0 0.0 -0.03"/>
    <dynamics damping="0.01" friction="0.0"/>
    <limit effort="0.5" velocity="0.05"/>
  </joint>
  <link name="omni_sphere10_right_rear">
    <inertial>
      <origin rpy="0 0 0" xyz="0.0 0.0 0.0"/>
      <mass value="0.05"/>
      <inertia ixx="0.000018" ixy="0" ixz="0" iyy="0.000018" iyz="0" izz="0.000018"/>
    </inertial>
    <visual>
      <origin rpy="0 0 0" xyz="0.0 0.0 0.0"/>
      <geometry>
        <sphere radius="0.03"/>
      </geometry>
      <material name="Blue">
        <color rgba="0.33 0.33 0.33 1.0"/>
      </material>
    </visual>
    <collision>
      <origin rpy="0 0 0" xyz="0.0 0.0 0.0"/>
      <geometry>
        <sphere radius="0.03"/>
      </geometry>
    </collision>
  </link>
  <gazebo reference="omni_sphere10_right_rear">
    <material>Gazebo/Blue</material>
    <turnGravityOff>false</turnGravityOff>
  </gazebo>
  <joint name="omni_sphere11_joint_left_front" type="continuous">
    <parent link="wheel_left_front"/>
    <child link="omni_sphere11_left_front"/>
    <axis xyz="0 1 0"/>
    <origin rpy="5.236 0 0" xyz="0.0 0.015 -0.026"/>
    <dynamics damping="0.01" friction="0.0"/>
    <limit effort="0.5" velocity="0.05"/>
  </joint>
  <link name="omni_sphere11_left_front">
    <inertial>
      <origin rpy="0 0 0" xyz="0.0 0.0 0.0"/>
      <mass value="0.05"/>
      <inertia ixx="0.000018" ixy="0" ixz="0" iyy="0.000018" iyz="0" izz="0.000018"/>
    </inertial>
    <visual>
      <origin rpy="0 0 0" xyz="0.0 0.0 0.0"/>
      <geometry>
        <sphere radius="0.03"/>
      </geometry>
      <material name="Blue">
        <color rgba="0.33 0.33 0.33 1.0"/>
      </material>
    </visual>
    <collision>
      <origin rpy="0 0 0" xyz="0.0 0.0 0.0"/>
      <geometry>
        <sphere radius="0.03"/>
      </geometry>
    </collision>
  </link>
  <gazebo reference="omni_sphere11_left_front">
    <material>Gazebo/Blue</material>
    <turnGravityOff>false</turnGravityOff>
  </gazebo>
  <joint name="omni_sphere11_joint_right_front" type="continuous">
    <parent link="wheel_right_front"/>
    <child link="omni_sphere11_right_front"/>
    <axis xyz="0 1 0"/>
    <origin rpy="5.236 0 0" xyz="0.0 0.015 -0.026"/>
    <dynamics damping="0.01" friction="0.0"/>
    <limit effort="0.5" velocity="0.05"/>
  </joint>
  <link name="omni_sphere11_right_front">
    <inertial>
      <origin rpy="0 0 0" xyz="0.0 0.0 0.0"/>
      <mass value="0.05"/>
      <inertia ixx="0.000018" ixy="0" ixz="0" iyy="0.000018" iyz="0" izz="0.000018"/>
    </inertial>
    <visual>
      <origin rpy="0 0 0" xyz="0.0 0.0 0.0"/>
      <geometry>
        <sphere radius="0.03"/>
      </geometry>
      <material name="Blue">
        <color rgba="0.33 0.33 0.33 1.0"/>
      </material>
    </visual>
    <collision>
      <origin rpy="0 0 0" xyz="0.0 0.0 0.0"/>
      <geometry>
        <sphere radius="0.03"/>
      </geometry>
    </collision>
  </link>
  <gazebo reference="omni_sphere11_right_front">
    <material>Gazebo/Blue</material>
    <turnGravityOff>false</turnGravityOff>
  </gazebo>
  <joint name="omni_sphere11_joint_left_rear" type="continuous">
    <parent link="wheel_left_rear"/>
    <child link="omni_sphere11_left_rear"/>
    <axis xyz="0 1 0"/>
    <origin rpy="5.236 0 0" xyz="0.0 0.015 -0.026"/>
    <dynamics damping="0.01" friction="0.0"/>
    <limit effort="0.5" velocity="0.05"/>
  </joint>
  <link name="omni_sphere11_left_rear">
    <inertial>
      <origin rpy="0 0 0" xyz="0.0 0.0 0.0"/>
      <mass value="0.05"/>
      <inertia ixx="0.000018" ixy="0" ixz="0" iyy="0.000018" iyz="0" izz="0.000018"/>
    </inertial>
    <visual>
      <origin rpy="0 0 0" xyz="0.0 0.0 0.0"/>
      <geometry>
        <sphere radius="0.03"/>
      </geometry>
      <material name="Blue">
        <color rgba="0.33 0.33 0.33 1.0"/>
      </material>
    </visual>
    <collision>
      <origin rpy="0 0 0" xyz="0.0 0.0 0.0"/>
      <geometry>
        <sphere radius="0.03"/>
      </geometry>
    </collision>
  </link>
  <gazebo reference="omni_sphere11_left_rear">
    <material>Gazebo/Blue</material>
    <turnGravityOff>false</turnGravityOff>
  </gazebo>
  <joint name="omni_sphere11_joint_right_rear" type="continuous">
    <parent link="wheel_right_rear"/>
    <child link="omni_sphere11_right_rear"/>
    <axis xyz="0 1 0"/>
    <origin rpy="5.236 0 0" xyz="0.0 0.015 -0.026"/>
    <dynamics damping="0.01" friction="0.0"/>
    <limit effort="0.5" velocity="0.05"/>
  </joint>
  <link name="omni_sphere11_right_rear">
    <inertial>
      <origin rpy="0 0 0" xyz="0.0 0.0 0.0"/>
      <mass value="0.05"/>
      <inertia ixx="0.000018" ixy="0" ixz="0" iyy="0.000018" iyz="0" izz="0.000018"/>
    </inertial>
    <visual>
      <origin rpy="0 0 0" xyz="0.0 0.0 0.0"/>
      <geometry>
        <sphere radius="0.03"/>
      </geometry>
      <material name="Blue">
        <color rgba="0.33 0.33 0.33 1.0"/>
      </material>
    </visual>
    <collision>
      <origin rpy="0 0 0" xyz="0.0 0.0 0.0"/>
      <geometry>
        <sphere radius="0.03"/>
      </geometry>
    </collision>
  </link>
  <gazebo reference="omni_sphere11_right_rear">
    <material>Gazebo/Blue</material>
    <turnGravityOff>false</turnGravityOff>
  </gazebo>
  <joint name="omni_sphere12_joint_left_front" type="continuous">
    <parent link="wheel_left_front"/>
    <child link="omni_sphere12_left_front"/>
    <axis xyz="0 1 0"/>
    <origin rpy="5.7596 0 0" xyz="0.0 0.026 -0.015"/>
    <dynamics damping="0.01" friction="0.0"/>
    <limit effort="0.5" velocity="0.05"/>
  </joint>
  <link name="omni_sphere12_left_front">
    <inertial>
      <origin rpy="0 0 0" xyz="0.0 0.0 0.0"/>
      <mass value="0.05"/>
      <inertia ixx="0.000018" ixy="0" ixz="0" iyy="0.000018" iyz="0" izz="0.000018"/>
    </inertial>
    <visual>
      <origin rpy="0 0 0" xyz="0.0 0.0 0.0"/>
      <geometry>
        <sphere radius="0.03"/>
      </geometry>
      <material name="Blue">
        <color rgba="0.33 0.33 0.33 1.0"/>
      </material>
    </visual>
    <collision>
      <origin rpy="0 0 0" xyz="0.0 0.0 0.0"/>
      <geometry>
        <sphere radius="0.03"/>
      </geometry>
    </collision>
  </link>
  <gazebo reference="omni_sphere12_left_front">
    <material>Gazebo/Blue</material>
    <turnGravityOff>false</turnGravityOff>
  </gazebo>
  <joint name="omni_sphere12_joint_right_front" type="continuous">
    <parent link="wheel_right_front"/>
    <child link="omni_sphere12_right_front"/>
    <axis xyz="0 1 0"/>
    <origin rpy="5.7596 0 0" xyz="0.0 0.026 -0.015"/>
    <dynamics damping="0.01" friction="0.0"/>
    <limit effort="0.5" velocity="0.05"/>
  </joint>
  <link name="omni_sphere12_right_front">
    <inertial>
      <origin rpy="0 0 0" xyz="0.0 0.0 0.0"/>
      <mass value="0.05"/>
      <inertia ixx="0.000018" ixy="0" ixz="0" iyy="0.000018" iyz="0" izz="0.000018"/>
    </inertial>
    <visual>
      <origin rpy="0 0 0" xyz="0.0 0.0 0.0"/>
      <geometry>
        <sphere radius="0.03"/>
      </geometry>
      <material name="Blue">
        <color rgba="0.33 0.33 0.33 1.0"/>
      </material>
    </visual>
    <collision>
      <origin rpy="0 0 0" xyz="0.0 0.0 0.0"/>
      <geometry>
        <sphere radius="0.03"/>
      </geometry>
    </collision>
  </link>
  <gazebo reference="omni_sphere12_right_front">
    <material>Gazebo/Blue</material>
    <turnGravityOff>false</turnGravityOff>
  </gazebo>
  <joint name="omni_sphere12_joint_left_rear" type="continuous">
    <parent link="wheel_left_rear"/>
    <child link="omni_sphere12_left_rear"/>
    <axis xyz="0 1 0"/>
    <origin rpy="5.7596 0 0" xyz="0.0 0.026 -0.015"/>
    <dynamics damping="0.01" friction="0.0"/>
    <limit effort="0.5" velocity="0.05"/>
  </joint>
  <link name="omni_sphere12_left_rear">
    <inertial>
      <origin rpy="0 0 0" xyz="0.0 0.0 0.0"/>
      <mass value="0.05"/>
      <inertia ixx="0.000018" ixy="0" ixz="0" iyy="0.000018" iyz="0" izz="0.000018"/>
    </inertial>
    <visual>
      <origin rpy="0 0 0" xyz="0.0 0.0 0.0"/>
      <geometry>
        <sphere radius="0.03"/>
      </geometry>
      <material name="Blue">
        <color rgba="0.33 0.33 0.33 1.0"/>
      </material>
    </visual>
    <collision>
      <origin rpy="0 0 0" xyz="0.0 0.0 0.0"/>
      <geometry>
        <sphere radius="0.03"/>
      </geometry>
    </collision>
  </link>
  <gazebo reference="omni_sphere12_left_rear">
    <material>Gazebo/Blue</material>
    <turnGravityOff>false</turnGravityOff>
  </gazebo>
  <joint name="omni_sphere12_joint_right_rear" type="continuous">
    <parent link="wheel_right_rear"/>
    <child link="omni_sphere12_right_rear"/>
    <axis xyz="0 1 0"/>
    <origin rpy="5.7596 0 0" xyz="0.0 0.026 -0.015"/>
    <dynamics damping="0.01" friction="0.0"/>
    <limit effort="0.5" velocity="0.05"/>
  </joint>
  <link name="omni_sphere12_right_rear">
    <inertial>
      <origin rpy="0 0 0" xyz="0.0 0.0 0.0"/>
      <mass value="0.05"/>
      <inertia ixx="0.000018" ixy="0" ixz="0" iyy="0.000018" iyz="0" izz="0.000018"/>
    </inertial>
    <visual>
      <origin rpy="0 0 0" xyz="0.0 0.0 0.0"/>
      <geometry>
        <sphere radius="0.03"/>
      </geometry>
      <material name="Blue">
        <color rgba="0.33 0.33 0.33 1.0"/>
      </material>
    </visual>
    <collision>
      <origin rpy="0 0 0" xyz="0.0 0.0 0.0"/>
      <geometry>
        <sphere radius="0.03"/>
      </geometry>
    </collision>
  </link>
  <gazebo reference="omni_sphere12_right_rear">
    <material>Gazebo/Blue</material>
    <turnGravityOff>false</turnGravityOff>
  </gazebo>
  <joint name="wheel_inner_joint_left_front" type="continuous">
    <parent link="base"/>
    <child link="wheel_left_front"/>
    <axis xyz="1 0 0"/>
    <origin rpy="0 0 2.3562" xyz="-0.25 +0.25 -0.3275"/>
    <dynamics damping="1" friction="0.0"/>
    <limit effort="5.0" velocity="5.0"/>
  </joint>
  <link name="wheel_left_front">
    <inertial>
      <origin rpy="0 0 0" xyz="0.0 0.0 0.0"/>
      <mass value="0.5"/>
      <inertia ixx="0.0006" ixy="0" ixz="0" iyy="0.0006" iyz="0" izz="0.0006"/>
    </inertial>
    <visual>
      <origin rpy="0 1.5708 0" xyz="0.0 0.0 0.0"/>
      <geometry>
        <cylinder length="0.05" radius="0.05"/>
      </geometry>
      <material name="Blue">
        <color rgba="0.33 0.33 0.33 1.0"/>
      </material>
    </visual>
    <collision>
      <origin rpy="0 1.5708 0" xyz="0.0 0.0 0.0"/>
      <geometry>
        <cylinder length="0.05" radius="0.05"/>
      </geometry>
    </collision>
  </link>
  <gazebo reference="wheel_left_front">
    <material>Gazebo/Blue</material>
    <turnGravityOff>false</turnGravityOff>
  </gazebo>
  <joint name="wheel_inner_joint_right_front" type="continuous">
    <parent link="base"/>
    <child link="wheel_right_front"/>
    <axis xyz="1 0 0"/>
    <origin rpy="0 0 0.7854" xyz="+0.25 +0.25 -0.3275"/>
    <dynamics damping="1" friction="0.0"/>
    <limit effort="5.0" velocity="5.0"/>
  </joint>
  <link name="wheel_right_front">
    <inertial>
      <origin rpy="0 0 0" xyz="0.0 0.0 0.0"/>
      <mass value="0.5"/>
      <inertia ixx="0.0006" ixy="0" ixz="0" iyy="0.0006" iyz="0" izz="0.0006"/>
    </inertial>
    <visual>
      <origin rpy="0 1.5708 0" xyz="0.0 0.0 0.0"/>
      <geometry>
        <cylinder length="0.05" radius="0.05"/>
      </geometry>
      <material name="Blue">
        <color rgba="0.33 0.33 0.33 1.0"/>
      </material>
    </visual>
    <collision>
      <origin rpy="0 1.5708 0" xyz="0.0 0.0 0.0"/>
      <geometry>
        <cylinder length="0.05" radius="0.05"/>
      </geometry>
    </collision>
  </link>
  <gazebo reference="wheel_right_front">
    <material>Gazebo/Blue</material>
    <turnGravityOff>false</turnGravityOff>
  </gazebo>
  <joint name="wheel_inner_joint_left_rear" type="continuous">
    <parent link="base"/>
    <child link="wheel_left_rear"/>
    <axis xyz="1 0 0"/>
    <origin rpy="0 0 -2.3562" xyz="-0.25 -0.25 -0.3275"/>
    <dynamics damping="1" friction="0.0"/>
    <limit effort="5.0" velocity="5.0"/>
  </joint>
  <link name="wheel_left_rear">
    <inertial>
      <origin rpy="0 0 0" xyz="0.0 0.0 0.0"/>
      <mass value="0.5"/>
      <inertia ixx="0.0006" ixy="0" ixz="0" iyy="0.0006" iyz="0" izz="0.0006"/>
    </inertial>
    <visual>
      <origin rpy="0 1.5708 0" xyz="0.0 0.0 0.0"/>
      <geometry>
        <cylinder length="0.05" radius="0.05"/>
      </geometry>
      <material name="Blue">
        <color rgba="0.33 0.33 0.33 1.0"/>
      </material>
    </visual>
    <collision>
      <origin rpy="0 1.5708 0" xyz="0.0 0.0 0.0"/>
      <geometry>
        <cylinder length="0.05" radius="0.05"/>
      </geometry>
    </collision>
  </link>
  <gazebo reference="wheel_left_rear">
    <material>Gazebo/Blue</material>
    <turnGravityOff>false</turnGravityOff>
  </gazebo>
  <joint name="wheel_inner_joint_right_rear" type="continuous">
    <parent link="base"/>
    <child link="wheel_right_rear"/>
    <axis xyz="1 0 0"/>
    <origin rpy="0 0 -0.7854" xyz="+0.25 -0.25 -0.3275"/>
    <dynamics damping="1" friction="0.0"/>
    <limit effort="5.0" velocity="5.0"/>
  </joint>
  <link name="wheel_right_rear">
    <inertial>
      <origin rpy="0 0 0" xyz="0.0 0.0 0.0"/>
      <mass value="0.5"/>
      <inertia ixx="0.0006" ixy="0" ixz="0" iyy="0.0006" iyz="0" izz="0.0006"/>
    </inertial>
    <visual>
      <origin rpy="0 1.5708 0" xyz="0.0 0.0 0.0"/>
      <geometry>
        <cylinder length="0.05" radius="0.05"/>
      </geometry>
      <material name="Blue">
        <color rgba="0.33 0.33 0.33 1.0"/>
      </material>
    </visual>
    <collision>
      <origin rpy="0 1.5708 0" xyz="0.0 0.0 0.0"/>
      <geometry>
        <cylinder length="0.05" radius="0.05"/>
      </geometry>
    </collision>
  </link>
  <gazebo reference="wheel_right_rear">
    <material>Gazebo/Blue</material>
    <turnGravityOff>false</turnGravityOff>
  </gazebo>
  <!--========BUILD ARMS======-->
  <link name="shoulder_link1_left">
    <inertial>
      <origin rpy="0 0 0" xyz="0.0 0.0 0.0"/>
      <mass value="0.1"/>
      <inertia ixx="0.01" ixy="0" ixz="0" iyy="0.01" iyz="0" izz="0.01"/>
    </inertial>
    <visual>
      <origin rpy="0 0 0 " xyz="0.0 0.0 0.0"/>
      <geometry>
        <cylinder length="0.105" radius="0.04"/>
      </geometry>
      <material name="Blue">
        <color rgba="0.25 0.25 0.25 1.0"/>
      </material>
    </visual>
    <collision>
      <origin rpy="0 0 0 " xyz="0.0 0.0 0.0"/>
      <geometry>
        <cylinder length="0.105" radius="0.04"/>
      </geometry>
    </collision>
  </link>
  <gazebo reference="shoulder_link1_left">
    <material>Gazebo/Blue</material>
    <turnGravityOff>false</turnGravityOff>
  </gazebo>
  <link name="shoulder_link2_left">
    <inertial>
      <origin rpy="0 0 0" xyz="0.0 0.0 0.0"/>
      <mass value="0.1"/>
      <inertia ixx="0.001" ixy="0" ixz="0" iyy="0.001" iyz="0" izz="0.001"/>
    </inertial>
    <visual>
      <origin rpy="0 0 0" xyz="0.0 0.0 0.0"/>
      <geometry>
        <cylinder length="0.01" radius="0.01"/>
      </geometry>
      <material name="Red">
        <color rgba="0 0 1 1.0"/>
      </material>
    </visual>
    <collision>
      <origin rpy="0 0 0" xyz="0.0 0.0 0.0"/>
      <geometry>
        <cylinder length="0.01" radius="0.01"/>
      </geometry>
    </collision>
  </link>
  <gazebo reference="shoulder_link2_left">
    <material>Gazebo/Red</material>
    <turnGravityOff>false</turnGravityOff>
  </gazebo>
  <link name="upper_arm_left">
    <inertial>
      <origin rpy="0 0 0" xyz="0.0 -0.16 0.0"/>
      <mass value="2.9"/>
      <inertia ixx="0.027" ixy="0" ixz="0" iyy="0.027" iyz="0" izz="0.004"/>
    </inertial>
    <visual>
      <origin rpy="1.5708 0 0" xyz="0.0 -0.16 0.0"/>
      <geometry>
        <cylinder length="0.32" radius="0.0525"/>
      </geometry>
      <material name="Grey">
        <color rgba="0.65 0.65 0.65 1.0"/>
      </material>
    </visual>
    <collision>
      <origin rpy="1.5708 0 0" xyz="0.0 -0.16 0.0"/>
      <geometry>
        <cylinder length="0.32" radius="0.0525"/>
      </geometry>
    </collision>
  </link>
  <gazebo reference="upper_arm_left">
    <material>Gazebo/Grey</material>
    <turnGravityOff>false</turnGravityOff>
  </gazebo>
  <link name="elbow_link4_left">
    <inertial>
      <origin rpy="0 0 0" xyz="0.0 0.0 0.0"/>
      <mass value="0.1"/>
      <inertia ixx="0.001" ixy="0" ixz="0" iyy="0.001" iyz="0" izz="0.001"/>
    </inertial>
    <visual>
      <origin rpy="1.5708 0 0" xyz="0.0 0.0 0.0"/>
      <geometry>
        <cylinder length="0.10" radius="0.03"/>
      </geometry>
      <material name="Blue">
        <color rgba="0.25 0.25 0.25 1.0"/>
      </material>
    </visual>
    <collision>
      <origin rpy="1.5708 0 0" xyz="0.0 0.0 0.0"/>
      <geometry>
        <cylinder length="0.10" radius="0.03"/>
      </geometry>
    </collision>
  </link>
  <gazebo reference="elbow_link4_left">
    <material>Gazebo/Blue</material>
    <turnGravityOff>false</turnGravityOff>
  </gazebo>
  <link name="fore_arm_left">
    <inertial>
      <origin rpy="0.0 0 0" xyz="0.0 -0.14 0.0"/>
      <mass value="0.8"/>
      <inertia ixx="0.0054" ixy="0" ixz="0" iyy="0.0054" iyz="0" izz="0.0004"/>
    </inertial>
    <visual>
      <origin rpy="1.5708 0 0" xyz="0.0 -0.14 0.0"/>
      <geometry>
        <box size="0.065 0.065 0.28"/>
      </geometry>
      <material name="Grey">
        <color rgba="0.65 0.65 0.65 1.0"/>
      </material>
    </visual>
    <collision>
      <origin rpy="1.5708 0 0" xyz="0.0 -0.14 0.0"/>
      <geometry>
        <box size="0.065 0.065 0.28"/>
      </geometry>
    </collision>
  </link>
  <gazebo reference="fore_arm_left">
    <material>Gazebo/Grey</material>
    <turnGravityOff>false</turnGravityOff>
  </gazebo>
  <link name="wrist_link6_left">
    <inertial>
      <origin rpy="0 0 0" xyz="0.0 0.0 0.0"/>
      <mass value="0.01"/>
      <inertia ixx="0.001" ixy="0" ixz="0" iyy="0.001" iyz="0" izz="0.001"/>
    </inertial>
    <visual>
      <origin rpy="1.5708 0 0" xyz="0.0 0.0 0.0"/>
      <geometry>
        <cylinder length="0.09" radius="0.02"/>
      </geometry>
      <material name="Blue">
        <color rgba="0.25 0.25 0.25 1.0"/>
      </material>
    </visual>
    <collision>
      <origin rpy="1.5708 0 0" xyz="0.0 0.0 0.0"/>
      <geometry>
        <cylinder length="0.09" radius="0.02"/>
      </geometry>
    </collision>
  </link>
  <gazebo reference="wrist_link6_left">
    <material>Gazebo/Blue</material>
    <turnGravityOff>false</turnGravityOff>
  </gazebo>
  <link name="hand_left">
    <inertial>
      <origin rpy="0 0 0" xyz="0.0425 0.0 0.0"/>
      <mass value="0.2"/>
      <inertia ixx="0.01" ixy="0" ixz="0" iyy="0.01" iyz="0" izz="0.01"/>
    </inertial>
    <visual>
      <origin rpy="0 0 0" xyz="0.0425 0.0 0.0"/>
      <geometry>
        <box size="0.080 0.085 0.038"/>
      </geometry>
      <material name="Red">
        <color rgba="0 0 1 1.0"/>
      </material>
    </visual>
    <collision>
      <origin rpy="0 0 0" xyz="0.0425 0.0 0.0"/>
      <geometry>
        <box size="0.080 0.085 0.038"/>
      </geometry>
    </collision>
  </link>
  <gazebo reference="hand_left">
    <material>Gazebo/Red</material>
    <turnGravityOff>false</turnGravityOff>
  </gazebo>
  <link name="finger1_left">
    <inertial>
      <origin rpy="0 0 0" xyz="0.0 0.0 -0.055"/>
      <mass value="0.05"/>
      <inertia ixx="0.00037" ixy="0" ixz="0" iyy="0.00052" iyz="0" izz="0.00052"/>
    </inertial>
    <visual>
      <origin rpy="0 0 0" xyz="0.0 0.0 -0.055"/>
      <geometry>
        <box size="0.02 0.022 0.11"/>
      </geometry>
      <material name="Black">
        <color rgba="0.15 0.15 0.15 1.0"/>
      </material>
    </visual>
    <collision>
      <origin rpy="0 0 0" xyz="0.0 0.0 -0.055"/>
      <geometry>
        <box size="0.02 0.022 0.11"/>
      </geometry>
    </collision>
  </link>
  <gazebo reference="finger1_left">
    <material>Gazebo/Black</material>
    <turnGravityOff>false</turnGravityOff>
  </gazebo>
  <link name="finger2_left">
    <inertial>
      <origin rpy="0 0 0" xyz="0.0 0.0 -0.055"/>
      <mass value="0.05"/>
      <inertia ixx="0.00037" ixy="0" ixz="0" iyy="0.00052" iyz="0" izz="0.00052"/>
    </inertial>
    <visual>
      <origin rpy="0 0 0" xyz="0.0 0.0 -0.055"/>
      <geometry>
        <box size="0.02 0.022 0.11"/>
      </geometry>
      <material name="Black">
        <color rgba="0.15 0.15 0.15 1.0"/>
      </material>
    </visual>
    <collision>
      <origin rpy="0 0 0" xyz="0.0 0.0 -0.055"/>
      <geometry>
        <box size="0.02 0.022 0.11"/>
      </geometry>
    </collision>
  </link>
  <gazebo reference="finger2_left">
    <material>Gazebo/Black</material>
    <turnGravityOff>false</turnGravityOff>
  </gazebo>
  <link name="grippoint_left">
    <inertial>
      <origin rpy="0 0 0" xyz="-0.1 0.0 0.0"/>
      <mass value="0.01"/>
      <inertia ixx="0.0001" ixy="0" ixz="0" iyy="0.0001" iyz="0" izz="0.0001"/>
    </inertial>
    <visual>
      <origin rpy="0 0 0 " xyz="-0.1 0.0 0.0"/>
      <geometry>
        <box size="0.01 0.01 0.01"/>
      </geometry>
      <material name="Blue">
        <color rgba="0.25 0.25 0.25 1.0"/>
      </material>
    </visual>
    <collision>
      <origin rpy="0 0 0 " xyz="-0.1 0.0 0.0"/>
      <geometry>
        <box size="0.01 0.01 0.01"/>
      </geometry>
    </collision>
  </link>
  <gazebo reference="grippoint_left">
    <material>Gazebo/Blue</material>
    <turnGravityOff>false</turnGravityOff>
  </gazebo>
  <joint name="shoulder_yaw_joint_left" type="revolute">
    <parent link="torso"/>
    <child link="shoulder_link1_left"/>
    <origin rpy="1.5708 0 0" xyz="0.05 -0.202  0.0"/>
    <axis xyz="0 -1 0"/>
    <dynamics damping="6.0" friction="4.87"/>
    <limit effort="13.4" lower="-1.5708" upper="0.0" velocity="1.0"/>
  </joint>
  <joint name="shoulder_pitch_joint_left" type="revolute">
    <parent link="shoulder_link1_left"/>
    <child link="shoulder_link2_left"/>
    <origin rpy="-1.5708  0 0" xyz="0.0 0.0 0.0"/>
    <axis xyz="0 -1 0"/>
    <dynamics damping="6.0" friction="6.06"/>
    <limit effort="13.4" lower="-3.1415" upper="0" velocity="1.0"/>
  </joint>
  <joint name="shoulder_roll_joint_left" type="revolute">
    <parent link="shoulder_link2_left"/>
    <child link="upper_arm_left"/>
    <origin rpy="1.5708 0 3.1416" xyz="0.0 0.0 0.0"/>
    <axis xyz="0 1 0"/>
    <dynamics damping="6.0" friction="2.16"/>
    <limit effort="9.8" lower="-1.5708" upper="1.5708" velocity="1.0"/>
  </joint>
  <joint name="elbow_pitch_joint_left" type="revolute">
    <parent link="upper_arm_left"/>
    <child link="elbow_link4_left"/>
    <origin rpy="-1.5708 0 0" xyz="0.01 -0.32 0.0"/>
    <axis xyz="0 -1 0"/>
    <dynamics damping="2.5" friction="1.18"/>
    <limit effort="4.5" lower="0.0" upper="1.90" velocity="1.0"/>
  </joint>
  <joint name="elbow_roll_joint_left" type="revolute">
    <parent link="elbow_link4_left"/>
    <child link="fore_arm_left"/>
    <origin rpy="1.5708 0 0" xyz="0.0 0.0 0.0"/>
    <axis xyz="0 1 0"/>
    <dynamics damping="2.5" friction="1.35"/>
    <limit effort="4.5" lower="-1.81" upper="1.81" velocity="1.0"/>
  </joint>
  <joint name="wrist_pitch_joint_left" type="revolute">
    <parent link="fore_arm_left"/>
    <child link="wrist_link6_left"/>
    <origin rpy="-1.5708 0 0" xyz="0.01 -0.28 0.0"/>
    <axis xyz="0 -1 0"/>
    <dynamics damping="0.5" friction="0.63"/>
    <limit effort="1" lower="-2.52" upper="-0.62" velocity="1.0"/>
  </joint>
  <joint name="wrist_yaw_joint_left" type="revolute">
    <parent link="wrist_link6_left"/>
    <child link="hand_left"/>
    <origin rpy="0 0 0" xyz="0.0 0.0 0.0"/>
    <axis xyz="0 0 1"/>
    <dynamics damping="0.5" friction="0.68"/>
    <limit effort="1" lower="-0.70" upper="0.70" velocity="1.0"/>
  </joint>
  <joint name="finger1_joint_left" type="revolute">
    <parent link="hand_left"/>
    <child link="finger1_left"/>
    <origin rpy="0 -1.57 0" xyz=" 0.075 0.04 0"/>
    <axis xyz="1 0 0"/>
    <dynamics damping="0.1" friction="0.63"/>
    <limit effort="3" lower="-0.7854" upper="0.7854" velocity="1.0"/>
  </joint>
  <joint name="finger2_joint_left" type="revolute">
    <parent link="hand_left"/>
    <child link="finger2_left"/>
    <origin rpy="0 -1.57 0" xyz="0.075 -0.04 0"/>
    <axis xyz="1 0 0"/>
    <dynamics damping="0.1" friction="0.0"/>
    <limit effort="3" lower="-0.7854" upper="0.7854" velocity="1.0"/>
  </joint>
  <joint name="grippoint_joint_left" type="fixed">
    <parent link="hand_left"/>
    <child link="grippoint_left"/>
    <axis xyz="0  0 1"/>
    <origin rpy="  0.0 0.0 0.0" xyz="0.14 0.0 0.0"/>
  </joint>
  <link name="shoulder_link1_right">
    <inertial>
      <origin rpy="0 0 0" xyz="0.0 0.0 0.0"/>
      <mass value="0.1"/>
      <inertia ixx="0.01" ixy="0" ixz="0" iyy="0.01" iyz="0" izz="0.01"/>
    </inertial>
    <visual>
      <origin rpy="0 0 0 " xyz="0.0 0.0 0.0"/>
      <geometry>
        <cylinder length="0.105" radius="0.04"/>
      </geometry>
      <material name="Blue">
        <color rgba="0.25 0.25 0.25 1.0"/>
      </material>
    </visual>
    <collision>
      <origin rpy="0 0 0 " xyz="0.0 0.0 0.0"/>
      <geometry>
        <cylinder length="0.105" radius="0.04"/>
      </geometry>
    </collision>
  </link>
  <gazebo reference="shoulder_link1_right">
    <material>Gazebo/Blue</material>
    <turnGravityOff>false</turnGravityOff>
  </gazebo>
  <link name="shoulder_link2_right">
    <inertial>
      <origin rpy="0 0 0" xyz="0.0 0.0 0.0"/>
      <mass value="0.1"/>
      <inertia ixx="0.001" ixy="0" ixz="0" iyy="0.001" iyz="0" izz="0.001"/>
    </inertial>
    <visual>
      <origin rpy="0 0 0" xyz="0.0 0.0 0.0"/>
      <geometry>
        <cylinder length="0.01" radius="0.01"/>
      </geometry>
      <material name="Red">
        <color rgba="0 0 1 1.0"/>
      </material>
    </visual>
    <collision>
      <origin rpy="0 0 0" xyz="0.0 0.0 0.0"/>
      <geometry>
        <cylinder length="0.01" radius="0.01"/>
      </geometry>
    </collision>
  </link>
  <gazebo reference="shoulder_link2_right">
    <material>Gazebo/Red</material>
    <turnGravityOff>false</turnGravityOff>
  </gazebo>
  <link name="upper_arm_right">
    <inertial>
      <origin rpy="0 0 0" xyz="0.0 -0.16 0.0"/>
      <mass value="2.9"/>
      <inertia ixx="0.027" ixy="0" ixz="0" iyy="0.027" iyz="0" izz="0.004"/>
    </inertial>
    <visual>
      <origin rpy="1.5708 0 0" xyz="0.0 -0.16 0.0"/>
      <geometry>
        <cylinder length="0.32" radius="0.0525"/>
      </geometry>
      <material name="Grey">
        <color rgba="0.65 0.65 0.65 1.0"/>
      </material>
    </visual>
    <collision>
      <origin rpy="1.5708 0 0" xyz="0.0 -0.16 0.0"/>
      <geometry>
        <cylinder length="0.32" radius="0.0525"/>
      </geometry>
    </collision>
  </link>
  <gazebo reference="upper_arm_right">
    <material>Gazebo/Grey</material>
    <turnGravityOff>false</turnGravityOff>
  </gazebo>
  <link name="elbow_link4_right">
    <inertial>
      <origin rpy="0 0 0" xyz="0.0 0.0 0.0"/>
      <mass value="0.1"/>
      <inertia ixx="0.001" ixy="0" ixz="0" iyy="0.001" iyz="0" izz="0.001"/>
    </inertial>
    <visual>
      <origin rpy="1.5708 0 0" xyz="0.0 0.0 0.0"/>
      <geometry>
        <cylinder length="0.10" radius="0.03"/>
      </geometry>
      <material name="Blue">
        <color rgba="0.25 0.25 0.25 1.0"/>
      </material>
    </visual>
    <collision>
      <origin rpy="1.5708 0 0" xyz="0.0 0.0 0.0"/>
      <geometry>
        <cylinder length="0.10" radius="0.03"/>
      </geometry>
    </collision>
  </link>
  <gazebo reference="elbow_link4_right">
    <material>Gazebo/Blue</material>
    <turnGravityOff>false</turnGravityOff>
  </gazebo>
  <link name="fore_arm_right">
    <inertial>
      <origin rpy="0.0 0 0" xyz="0.0 -0.14 0.0"/>
      <mass value="0.8"/>
      <inertia ixx="0.0054" ixy="0" ixz="0" iyy="0.0054" iyz="0" izz="0.0004"/>
    </inertial>
    <visual>
      <origin rpy="1.5708 0 0" xyz="0.0 -0.14 0.0"/>
      <geometry>
        <box size="0.065 0.065 0.28"/>
      </geometry>
      <material name="Grey">
        <color rgba="0.65 0.65 0.65 1.0"/>
      </material>
    </visual>
    <collision>
      <origin rpy="1.5708 0 0" xyz="0.0 -0.14 0.0"/>
      <geometry>
        <box size="0.065 0.065 0.28"/>
      </geometry>
    </collision>
  </link>
  <gazebo reference="fore_arm_right">
    <material>Gazebo/Grey</material>
    <turnGravityOff>false</turnGravityOff>
  </gazebo>
  <link name="wrist_link6_right">
    <inertial>
      <origin rpy="0 0 0" xyz="0.0 0.0 0.0"/>
      <mass value="0.01"/>
      <inertia ixx="0.001" ixy="0" ixz="0" iyy="0.001" iyz="0" izz="0.001"/>
    </inertial>
    <visual>
      <origin rpy="1.5708 0 0" xyz="0.0 0.0 0.0"/>
      <geometry>
        <cylinder length="0.09" radius="0.02"/>
      </geometry>
      <material name="Blue">
        <color rgba="0.25 0.25 0.25 1.0"/>
      </material>
    </visual>
    <collision>
      <origin rpy="1.5708 0 0" xyz="0.0 0.0 0.0"/>
      <geometry>
        <cylinder length="0.09" radius="0.02"/>
      </geometry>
    </collision>
  </link>
  <gazebo reference="wrist_link6_right">
    <material>Gazebo/Blue</material>
    <turnGravityOff>false</turnGravityOff>
  </gazebo>
  <link name="hand_right">
    <inertial>
      <origin rpy="0 0 0" xyz="0.0425 0.0 0.0"/>
      <mass value="0.2"/>
      <inertia ixx="0.01" ixy="0" ixz="0" iyy="0.01" iyz="0" izz="0.01"/>
    </inertial>
    <visual>
      <origin rpy="0 0 0" xyz="0.0425 0.0 0.0"/>
      <geometry>
        <box size="0.080 0.085 0.038"/>
      </geometry>
      <material name="Red">
        <color rgba="0 0 1 1.0"/>
      </material>
    </visual>
    <collision>
      <origin rpy="0 0 0" xyz="0.0425 0.0 0.0"/>
      <geometry>
        <box size="0.080 0.085 0.038"/>
      </geometry>
    </collision>
  </link>
  <gazebo reference="hand_right">
    <material>Gazebo/Red</material>
    <turnGravityOff>false</turnGravityOff>
  </gazebo>
  <link name="finger1_right">
    <inertial>
      <origin rpy="0 0 0" xyz="0.0 0.0 -0.055"/>
      <mass value="0.05"/>
      <inertia ixx="0.00037" ixy="0" ixz="0" iyy="0.00052" iyz="0" izz="0.00052"/>
    </inertial>
    <visual>
      <origin rpy="0 0 0" xyz="0.0 0.0 -0.055"/>
      <geometry>
        <box size="0.02 0.022 0.11"/>
      </geometry>
      <material name="Black">
        <color rgba="0.15 0.15 0.15 1.0"/>
      </material>
    </visual>
    <collision>
      <origin rpy="0 0 0" xyz="0.0 0.0 -0.055"/>
      <geometry>
        <box size="0.02 0.022 0.11"/>
      </geometry>
    </collision>
  </link>
  <gazebo reference="finger1_right">
    <material>Gazebo/Black</material>
    <turnGravityOff>false</turnGravityOff>
  </gazebo>
  <link name="finger2_right">
    <inertial>
      <origin rpy="0 0 0" xyz="0.0 0.0 -0.055"/>
      <mass value="0.05"/>
      <inertia ixx="0.00037" ixy="0" ixz="0" iyy="0.00052" iyz="0" izz="0.00052"/>
    </inertial>
    <visual>
      <origin rpy="0 0 0" xyz="0.0 0.0 -0.055"/>
      <geometry>
        <box size="0.02 0.022 0.11"/>
      </geometry>
      <material name="Black">
        <color rgba="0.15 0.15 0.15 1.0"/>
      </material>
    </visual>
    <collision>
      <origin rpy="0 0 0" xyz="0.0 0.0 -0.055"/>
      <geometry>
        <box size="0.02 0.022 0.11"/>
      </geometry>
    </collision>
  </link>
  <gazebo reference="finger2_right">
    <material>Gazebo/Black</material>
    <turnGravityOff>false</turnGravityOff>
  </gazebo>
  <link name="grippoint_right">
    <inertial>
      <origin rpy="0 0 0" xyz="-0.1 0.0 0.0"/>
      <mass value="0.01"/>
      <inertia ixx="0.0001" ixy="0" ixz="0" iyy="0.0001" iyz="0" izz="0.0001"/>
    </inertial>
    <visual>
      <origin rpy="0 0 0 " xyz="-0.1 0.0 0.0"/>
      <geometry>
        <box size="0.01 0.01 0.01"/>
      </geometry>
      <material name="Blue">
        <color rgba="0.25 0.25 0.25 1.0"/>
      </material>
    </visual>
    <collision>
      <origin rpy="0 0 0 " xyz="-0.1 0.0 0.0"/>
      <geometry>
        <box size="0.01 0.01 0.01"/>
      </geometry>
    </collision>
  </link>
  <gazebo reference="grippoint_right">
    <material>Gazebo/Blue</material>
    <turnGravityOff>false</turnGravityOff>
  </gazebo>
  <joint name="shoulder_yaw_joint_right" type="revolute">
    <parent link="torso"/>
    <child link="shoulder_link1_right"/>
    <origin rpy="-1.5708 0 0" xyz="0.05 +0.202  0.0"/>
    <axis xyz="0 -1 0"/>
    <dynamics damping="6.0" friction="4.87"/>
    <limit effort="13.4" lower="-1.5708" upper="0.0" velocity="1.0"/>
  </joint>
  <joint name="shoulder_pitch_joint_right" type="revolute">
    <parent link="shoulder_link1_right"/>
    <child link="shoulder_link2_right"/>
    <origin rpy="-1.5708  0 0" xyz="0.0 0.0 0.0"/>
    <axis xyz="0 -1 0"/>
    <dynamics damping="6.0" friction="6.06"/>
    <limit effort="13.4" lower="-3.1415" upper="0" velocity="1.0"/>
  </joint>
  <joint name="shoulder_roll_joint_right" type="revolute">
    <parent link="shoulder_link2_right"/>
    <child link="upper_arm_right"/>
    <origin rpy="1.5708 0 0.0" xyz="0.0 0.0 0.0"/>
    <axis xyz="0 1 0"/>
    <dynamics damping="6.0" friction="2.16"/>
    <limit effort="9.8" lower="-1.5708" upper="1.5708" velocity="1.0"/>
  </joint>
  <joint name="elbow_pitch_joint_right" type="revolute">
    <parent link="upper_arm_right"/>
    <child link="elbow_link4_right"/>
    <origin rpy="-1.5708 0 0" xyz="0.01 -0.32 0.0"/>
    <axis xyz="0 -1 0"/>
    <dynamics damping="2.5" friction="1.18"/>
    <limit effort="4.5" lower="0.0" upper="1.90" velocity="1.0"/>
  </joint>
  <joint name="elbow_roll_joint_right" type="revolute">
    <parent link="elbow_link4_right"/>
    <child link="fore_arm_right"/>
    <origin rpy="1.5708 0 0" xyz="0.0 0.0 0.0"/>
    <axis xyz="0 1 0"/>
    <dynamics damping="2.5" friction="1.35"/>
    <limit effort="4.5" lower="-1.81" upper="1.81" velocity="1.0"/>
  </joint>
  <joint name="wrist_pitch_joint_right" type="revolute">
    <parent link="fore_arm_right"/>
    <child link="wrist_link6_right"/>
    <origin rpy="-1.5708 0 0" xyz="0.01 -0.28 0.0"/>
    <axis xyz="0 -1 0"/>
    <dynamics damping="0.5" friction="0.63"/>
    <limit effort="1" lower="-2.52" upper="-0.62" velocity="1.0"/>
  </joint>
  <joint name="wrist_yaw_joint_right" type="revolute">
    <parent link="wrist_link6_right"/>
    <child link="hand_right"/>
    <origin rpy="0 0 0" xyz="0.0 0.0 0.0"/>
    <axis xyz="0 0 1"/>
    <dynamics damping="0.5" friction="0.68"/>
    <limit effort="1" lower="-0.70" upper="0.70" velocity="1.0"/>
  </joint>
  <joint name="finger1_joint_right" type="revolute">
    <parent link="hand_right"/>
    <child link="finger1_right"/>
    <origin rpy="0 -1.57 0" xyz=" 0.075 0.04 0"/>
    <axis xyz="1 0 0"/>
    <dynamics damping="0.1" friction="0.63"/>
    <limit effort="3" lower="-0.7854" upper="0.7854" velocity="1.0"/>
  </joint>
  <joint name="finger2_joint_right" type="revolute">
    <parent link="hand_right"/>
    <child link="finger2_right"/>
    <origin rpy="0 -1.57 0" xyz="0.075 -0.04 0"/>
    <axis xyz="1 0 0"/>
    <dynamics damping="0.1" friction="0.0"/>
    <limit effort="3" lower="-0.7854" upper="0.7854" velocity="1.0"/>
  </joint>
  <joint name="grippoint_joint_right" type="fixed">
    <parent link="hand_right"/>
    <child link="grippoint_right"/>
    <axis xyz="0  0 1"/>
    <origin rpy="  0.0 0.0 0.0" xyz="0.14 0.0 0.0"/>
  </joint>
  <!--====BUILD TRANSMISSION ELEMENTS====-->
  <transmission name="spindle_trans" type="pr2_mechanism_model/SimpleTransmission">
    <actuator name="spindle_motor"/>
    <joint name="spindle_joint"/>
    <mechanicalReduction>1</mechanicalReduction>
    <motorTorqueConstant>1</motorTorqueConstant>
  </transmission>
  <transmission name="shoulder_yaw_trans_left" type="pr2_mechanism_model/SimpleTransmission">
    <actuator name="shoulder_yaw_motor_left"/>
    <joint name="shoulder_yaw_joint_left"/>
    <mechanicalReduction>1</mechanicalReduction>
    <motorTorqueConstant>1</motorTorqueConstant>
  </transmission>
  <transmission name="shoulder_pitch_trans_left" type="pr2_mechanism_model/SimpleTransmission">
    <actuator name="shoulder_pitch_motor_left"/>
    <joint name="shoulder_pitch_joint_left"/>
    <mechanicalReduction>1</mechanicalReduction>
    <motorTorqueConstant>1</motorTorqueConstant>
  </transmission>
  <transmission name="shoulder_roll_trans_left" type="pr2_mechanism_model/SimpleTransmission">
    <actuator name="shoulder_roll_motor_left"/>
    <joint name="shoulder_roll_joint_left"/>
    <mechanicalReduction>1</mechanicalReduction>
    <motorTorqueConstant>1</motorTorqueConstant>
  </transmission>
  <transmission name="elbow_pitch_trans_left" type="pr2_mechanism_model/SimpleTransmission">
    <actuator name="elbow_pitch_motor_left"/>
    <joint name="elbow_pitch_joint_left"/>
    <mechanicalReduction>1</mechanicalReduction>
    <motorTorqueConstant>1</motorTorqueConstant>
  </transmission>
  <transmission name="elbow_roll_trans_left" type="pr2_mechanism_model/SimpleTransmission">
    <actuator name="elbow_roll_motor_left"/>
    <joint name="elbow_roll_joint_left"/>
    <mechanicalReduction>1</mechanicalReduction>
    <motorTorqueConstant>1</motorTorqueConstant>
  </transmission>
  <transmission name="wrist_yaw_trans_left" type="pr2_mechanism_model/SimpleTransmission">
    <actuator name="wrist_yaw_motor_left"/>
    <joint name="wrist_yaw_joint_left"/>
    <mechanicalReduction>1</mechanicalReduction>
    <motorTorqueConstant>1</motorTorqueConstant>
  </transmission>
  <transmission name="wrist_pitch_trans_left" type="pr2_mechanism_model/SimpleTransmission">
    <actuator name="wrist_pitch_motor_left"/>
    <joint name="wrist_pitch_joint_left"/>
    <mechanicalReduction>1</mechanicalReduction>
    <motorTorqueConstant>1</motorTorqueConstant>
  </transmission>
  <transmission name="finger1_trans_left" type="pr2_mechanism_model/SimpleTransmission">
    <actuator name="finger1_motor_left"/>
    <joint name="finger1_joint_left"/>
    <mechanicalReduction>1</mechanicalReduction>
    <motorTorqueConstant>1</motorTorqueConstant>
  </transmission>
  <transmission name="finger2_trans_left" type="pr2_mechanism_model/SimpleTransmission">
    <actuator name="finger2_motor_left"/>
    <joint name="finger2_joint_left"/>
    <mechanicalReduction>1</mechanicalReduction>
    <motorTorqueConstant>1</motorTorqueConstant>
  </transmission>
  <transmission name="shoulder_yaw_trans_right" type="pr2_mechanism_model/SimpleTransmission">
    <actuator name="shoulder_yaw_motor_right"/>
    <joint name="shoulder_yaw_joint_right"/>
    <mechanicalReduction>1</mechanicalReduction>
    <motorTorqueConstant>1</motorTorqueConstant>
  </transmission>
  <transmission name="shoulder_pitch_trans_right" type="pr2_mechanism_model/SimpleTransmission">
    <actuator name="shoulder_pitch_motor_right"/>
    <joint name="shoulder_pitch_joint_right"/>
    <mechanicalReduction>1</mechanicalReduction>
    <motorTorqueConstant>1</motorTorqueConstant>
  </transmission>
  <transmission name="shoulder_roll_trans_right" type="pr2_mechanism_model/SimpleTransmission">
    <actuator name="shoulder_roll_motor_right"/>
    <joint name="shoulder_roll_joint_right"/>
    <mechanicalReduction>1</mechanicalReduction>
    <motorTorqueConstant>1</motorTorqueConstant>
  </transmission>
  <transmission name="elbow_pitch_trans_right" type="pr2_mechanism_model/SimpleTransmission">
    <actuator name="elbow_pitch_motor_right"/>
    <joint name="elbow_pitch_joint_right"/>
    <mechanicalReduction>1</mechanicalReduction>
    <motorTorqueConstant>1</motorTorqueConstant>
  </transmission>
  <transmission name="elbow_roll_trans_right" type="pr2_mechanism_model/SimpleTransmission">
    <actuator name="elbow_roll_motor_right"/>
    <joint name="elbow_roll_joint_right"/>
    <mechanicalReduction>1</mechanicalReduction>
    <motorTorqueConstant>1</motorTorqueConstant>
  </transmission>
  <transmission name="wrist_yaw_trans_right" type="pr2_mechanism_model/SimpleTransmission">
    <actuator name="wrist_yaw_motor_right"/>
    <joint name="wrist_yaw_joint_right"/>
    <mechanicalReduction>1</mechanicalReduction>
    <motorTorqueConstant>1</motorTorqueConstant>
  </transmission>
  <transmission name="wrist_pitch_trans_right" type="pr2_mechanism_model/SimpleTransmission">
    <actuator name="wrist_pitch_motor_right"/>
    <joint name="wrist_pitch_joint_right"/>
    <mechanicalReduction>1</mechanicalReduction>
    <motorTorqueConstant>1</motorTorqueConstant>
  </transmission>
  <transmission name="finger1_trans_right" type="pr2_mechanism_model/SimpleTransmission">
    <actuator name="finger1_motor_right"/>
    <joint name="finger1_joint_right"/>
    <mechanicalReduction>1</mechanicalReduction>
    <motorTorqueConstant>1</motorTorqueConstant>
  </transmission>
  <transmission name="finger2_trans_right" type="pr2_mechanism_model/SimpleTransmission">
    <actuator name="finger2_motor_right"/>
    <joint name="finger2_joint_right"/>
    <mechanicalReduction>1</mechanicalReduction>
    <motorTorqueConstant>1</motorTorqueConstant>
  </transmission>
  <transmission name="wheel_inner_trans_left_front" type="pr2_mechanism_model/SimpleTransmission">
    <actuator name="wheel_inner_motor_left_front"/>
    <joint name="wheel_inner_joint_left_front"/>
    <mechanicalReduction>1</mechanicalReduction>
    <motorTorqueConstant>1</motorTorqueConstant>
  </transmission>
  <transmission name="wheel_inner_trans_right_front" type="pr2_mechanism_model/SimpleTransmission">
    <actuator name="wheel_inner_motor_right_front"/>
    <joint name="wheel_inner_joint_right_front"/>
    <mechanicalReduction>1</mechanicalReduction>
    <motorTorqueConstant>1</motorTorqueConstant>
  </transmission>
  <transmission name="wheel_inner_trans_left_rear" type="pr2_mechanism_model/SimpleTransmission">
    <actuator name="wheel_inner_motor_left_rear"/>
    <joint name="wheel_inner_joint_left_rear"/>
    <mechanicalReduction>1</mechanicalReduction>
    <motorTorqueConstant>1</motorTorqueConstant>
  </transmission>
  <transmission name="wheel_inner_trans_right_rear" type="pr2_mechanism_model/SimpleTransmission">
    <actuator name="wheel_inner_motor_right_rear"/>
    <joint name="wheel_inner_joint_right_rear"/>
    <mechanicalReduction>1</mechanicalReduction>
    <motorTorqueConstant>1</motorTorqueConstant>
  </transmission>
  <transmission name="omniwheel_trans_left_front" type="pr2_mechanism_model/SimpleTransmission">
    <actuator name="omniwheel_motor_left_front"/>
    <joint name="omni_sphere1_joint_left_front"/>
    <mechanicalReduction>1</mechanicalReduction>
    <motorTorqueConstant>1</motorTorqueConstant>
  </transmission>
  <transmission name="omniwheel_trans_right_front" type="pr2_mechanism_model/SimpleTransmission">
    <actuator name="omniwheel_motor_right_front"/>
    <joint name="omni_sphere1_joint_right_front"/>
    <mechanicalReduction>1</mechanicalReduction>
    <motorTorqueConstant>1</motorTorqueConstant>
  </transmission>
  <transmission name="omniwheel_trans_left_rear" type="pr2_mechanism_model/SimpleTransmission">
    <actuator name="omniwheel_motor_left_rear"/>
    <joint name="omni_sphere1_joint_left_rear"/>
    <mechanicalReduction>1</mechanicalReduction>
    <motorTorqueConstant>1</motorTorqueConstant>
  </transmission>
  <transmission name="omniwheel_trans_right_rear" type="pr2_mechanism_model/SimpleTransmission">
    <actuator name="omniwheel_motor_right_rear"/>
    <joint name="omni_sphere1_joint_right_rear"/>
    <mechanicalReduction>1</mechanicalReduction>
    <motorTorqueConstant>1</motorTorqueConstant>
  </transmission>
  <transmission name="omniwheel_trans_left_front" type="pr2_mechanism_model/SimpleTransmission">
    <actuator name="omniwheel_motor_left_front"/>
    <joint name="omni_sphere2_joint_left_front"/>
    <mechanicalReduction>1</mechanicalReduction>
    <motorTorqueConstant>1</motorTorqueConstant>
  </transmission>
  <transmission name="omniwheel_trans_right_front" type="pr2_mechanism_model/SimpleTransmission">
    <actuator name="omniwheel_motor_right_front"/>
    <joint name="omni_sphere2_joint_right_front"/>
    <mechanicalReduction>1</mechanicalReduction>
    <motorTorqueConstant>1</motorTorqueConstant>
  </transmission>
  <transmission name="omniwheel_trans_left_rear" type="pr2_mechanism_model/SimpleTransmission">
    <actuator name="omniwheel_motor_left_rear"/>
    <joint name="omni_sphere2_joint_left_rear"/>
    <mechanicalReduction>1</mechanicalReduction>
    <motorTorqueConstant>1</motorTorqueConstant>
  </transmission>
  <transmission name="omniwheel_trans_right_rear" type="pr2_mechanism_model/SimpleTransmission">
    <actuator name="omniwheel_motor_right_rear"/>
    <joint name="omni_sphere2_joint_right_rear"/>
    <mechanicalReduction>1</mechanicalReduction>
    <motorTorqueConstant>1</motorTorqueConstant>
  </transmission>
  <transmission name="omniwheel_trans_left_front" type="pr2_mechanism_model/SimpleTransmission">
    <actuator name="omniwheel_motor_left_front"/>
    <joint name="omni_sphere3_joint_left_front"/>
    <mechanicalReduction>1</mechanicalReduction>
    <motorTorqueConstant>1</motorTorqueConstant>
  </transmission>
  <transmission name="omniwheel_trans_right_front" type="pr2_mechanism_model/SimpleTransmission">
    <actuator name="omniwheel_motor_right_front"/>
    <joint name="omni_sphere3_joint_right_front"/>
    <mechanicalReduction>1</mechanicalReduction>
    <motorTorqueConstant>1</motorTorqueConstant>
  </transmission>
  <transmission name="omniwheel_trans_left_rear" type="pr2_mechanism_model/SimpleTransmission">
    <actuator name="omniwheel_motor_left_rear"/>
    <joint name="omni_sphere3_joint_left_rear"/>
    <mechanicalReduction>1</mechanicalReduction>
    <motorTorqueConstant>1</motorTorqueConstant>
  </transmission>
  <transmission name="omniwheel_trans_right_rear" type="pr2_mechanism_model/SimpleTransmission">
    <actuator name="omniwheel_motor_right_rear"/>
    <joint name="omni_sphere3_joint_right_rear"/>
    <mechanicalReduction>1</mechanicalReduction>
    <motorTorqueConstant>1</motorTorqueConstant>
  </transmission>
  <transmission name="omniwheel_trans_left_front" type="pr2_mechanism_model/SimpleTransmission">
    <actuator name="omniwheel_motor_left_front"/>
    <joint name="omni_sphere4_joint_left_front"/>
    <mechanicalReduction>1</mechanicalReduction>
    <motorTorqueConstant>1</motorTorqueConstant>
  </transmission>
  <transmission name="omniwheel_trans_right_front" type="pr2_mechanism_model/SimpleTransmission">
    <actuator name="omniwheel_motor_right_front"/>
    <joint name="omni_sphere4_joint_right_front"/>
    <mechanicalReduction>1</mechanicalReduction>
    <motorTorqueConstant>1</motorTorqueConstant>
  </transmission>
  <transmission name="omniwheel_trans_left_rear" type="pr2_mechanism_model/SimpleTransmission">
    <actuator name="omniwheel_motor_left_rear"/>
    <joint name="omni_sphere4_joint_left_rear"/>
    <mechanicalReduction>1</mechanicalReduction>
    <motorTorqueConstant>1</motorTorqueConstant>
  </transmission>
  <transmission name="omniwheel_trans_right_rear" type="pr2_mechanism_model/SimpleTransmission">
    <actuator name="omniwheel_motor_right_rear"/>
    <joint name="omni_sphere4_joint_right_rear"/>
    <mechanicalReduction>1</mechanicalReduction>
    <motorTorqueConstant>1</motorTorqueConstant>
  </transmission>
  <transmission name="omniwheel_trans_left_front" type="pr2_mechanism_model/SimpleTransmission">
    <actuator name="omniwheel_motor_left_front"/>
    <joint name="omni_sphere5_joint_left_front"/>
    <mechanicalReduction>1</mechanicalReduction>
    <motorTorqueConstant>1</motorTorqueConstant>
  </transmission>
  <transmission name="omniwheel_trans_right_front" type="pr2_mechanism_model/SimpleTransmission">
    <actuator name="omniwheel_motor_right_front"/>
    <joint name="omni_sphere5_joint_right_front"/>
    <mechanicalReduction>1</mechanicalReduction>
    <motorTorqueConstant>1</motorTorqueConstant>
  </transmission>
  <transmission name="omniwheel_trans_left_rear" type="pr2_mechanism_model/SimpleTransmission">
    <actuator name="omniwheel_motor_left_rear"/>
    <joint name="omni_sphere5_joint_left_rear"/>
    <mechanicalReduction>1</mechanicalReduction>
    <motorTorqueConstant>1</motorTorqueConstant>
  </transmission>
  <transmission name="omniwheel_trans_right_rear" type="pr2_mechanism_model/SimpleTransmission">
    <actuator name="omniwheel_motor_right_rear"/>
    <joint name="omni_sphere5_joint_right_rear"/>
    <mechanicalReduction>1</mechanicalReduction>
    <motorTorqueConstant>1</motorTorqueConstant>
  </transmission>
  <transmission name="omniwheel_trans_left_front" type="pr2_mechanism_model/SimpleTransmission">
    <actuator name="omniwheel_motor_left_front"/>
    <joint name="omni_sphere6_joint_left_front"/>
    <mechanicalReduction>1</mechanicalReduction>
    <motorTorqueConstant>1</motorTorqueConstant>
  </transmission>
  <transmission name="omniwheel_trans_right_front" type="pr2_mechanism_model/SimpleTransmission">
    <actuator name="omniwheel_motor_right_front"/>
    <joint name="omni_sphere6_joint_right_front"/>
    <mechanicalReduction>1</mechanicalReduction>
    <motorTorqueConstant>1</motorTorqueConstant>
  </transmission>
  <transmission name="omniwheel_trans_left_rear" type="pr2_mechanism_model/SimpleTransmission">
    <actuator name="omniwheel_motor_left_rear"/>
    <joint name="omni_sphere6_joint_left_rear"/>
    <mechanicalReduction>1</mechanicalReduction>
    <motorTorqueConstant>1</motorTorqueConstant>
  </transmission>
  <transmission name="omniwheel_trans_right_rear" type="pr2_mechanism_model/SimpleTransmission">
    <actuator name="omniwheel_motor_right_rear"/>
    <joint name="omni_sphere6_joint_right_rear"/>
    <mechanicalReduction>1</mechanicalReduction>
    <motorTorqueConstant>1</motorTorqueConstant>
  </transmission>
  <transmission name="omniwheel_trans_left_front" type="pr2_mechanism_model/SimpleTransmission">
    <actuator name="omniwheel_motor_left_front"/>
    <joint name="omni_sphere7_joint_left_front"/>
    <mechanicalReduction>1</mechanicalReduction>
    <motorTorqueConstant>1</motorTorqueConstant>
  </transmission>
  <transmission name="omniwheel_trans_right_front" type="pr2_mechanism_model/SimpleTransmission">
    <actuator name="omniwheel_motor_right_front"/>
    <joint name="omni_sphere7_joint_right_front"/>
    <mechanicalReduction>1</mechanicalReduction>
    <motorTorqueConstant>1</motorTorqueConstant>
  </transmission>
  <transmission name="omniwheel_trans_left_rear" type="pr2_mechanism_model/SimpleTransmission">
    <actuator name="omniwheel_motor_left_rear"/>
    <joint name="omni_sphere7_joint_left_rear"/>
    <mechanicalReduction>1</mechanicalReduction>
    <motorTorqueConstant>1</motorTorqueConstant>
  </transmission>
  <transmission name="omniwheel_trans_right_rear" type="pr2_mechanism_model/SimpleTransmission">
    <actuator name="omniwheel_motor_right_rear"/>
    <joint name="omni_sphere7_joint_right_rear"/>
    <mechanicalReduction>1</mechanicalReduction>
    <motorTorqueConstant>1</motorTorqueConstant>
  </transmission>
  <transmission name="omniwheel_trans_left_front" type="pr2_mechanism_model/SimpleTransmission">
    <actuator name="omniwheel_motor_left_front"/>
    <joint name="omni_sphere8_joint_left_front"/>
    <mechanicalReduction>1</mechanicalReduction>
    <motorTorqueConstant>1</motorTorqueConstant>
  </transmission>
  <transmission name="omniwheel_trans_right_front" type="pr2_mechanism_model/SimpleTransmission">
    <actuator name="omniwheel_motor_right_front"/>
    <joint name="omni_sphere8_joint_right_front"/>
    <mechanicalReduction>1</mechanicalReduction>
    <motorTorqueConstant>1</motorTorqueConstant>
  </transmission>
  <transmission name="omniwheel_trans_left_rear" type="pr2_mechanism_model/SimpleTransmission">
    <actuator name="omniwheel_motor_left_rear"/>
    <joint name="omni_sphere8_joint_left_rear"/>
    <mechanicalReduction>1</mechanicalReduction>
    <motorTorqueConstant>1</motorTorqueConstant>
  </transmission>
  <transmission name="omniwheel_trans_right_rear" type="pr2_mechanism_model/SimpleTransmission">
    <actuator name="omniwheel_motor_right_rear"/>
    <joint name="omni_sphere8_joint_right_rear"/>
    <mechanicalReduction>1</mechanicalReduction>
    <motorTorqueConstant>1</motorTorqueConstant>
  </transmission>
  <transmission name="omniwheel_trans_left_front" type="pr2_mechanism_model/SimpleTransmission">
    <actuator name="omniwheel_motor_left_front"/>
    <joint name="omni_sphere9_joint_left_front"/>
    <mechanicalReduction>1</mechanicalReduction>
    <motorTorqueConstant>1</motorTorqueConstant>
  </transmission>
  <transmission name="omniwheel_trans_right_front" type="pr2_mechanism_model/SimpleTransmission">
    <actuator name="omniwheel_motor_right_front"/>
    <joint name="omni_sphere9_joint_right_front"/>
    <mechanicalReduction>1</mechanicalReduction>
    <motorTorqueConstant>1</motorTorqueConstant>
  </transmission>
  <transmission name="omniwheel_trans_left_rear" type="pr2_mechanism_model/SimpleTransmission">
    <actuator name="omniwheel_motor_left_rear"/>
    <joint name="omni_sphere9_joint_left_rear"/>
    <mechanicalReduction>1</mechanicalReduction>
    <motorTorqueConstant>1</motorTorqueConstant>
  </transmission>
  <transmission name="omniwheel_trans_right_rear" type="pr2_mechanism_model/SimpleTransmission">
    <actuator name="omniwheel_motor_right_rear"/>
    <joint name="omni_sphere9_joint_right_rear"/>
    <mechanicalReduction>1</mechanicalReduction>
    <motorTorqueConstant>1</motorTorqueConstant>
  </transmission>
  <transmission name="omniwheel_trans_left_front" type="pr2_mechanism_model/SimpleTransmission">
    <actuator name="omniwheel_motor_left_front"/>
    <joint name="omni_sphere10_joint_left_front"/>
    <mechanicalReduction>1</mechanicalReduction>
    <motorTorqueConstant>1</motorTorqueConstant>
  </transmission>
  <transmission name="omniwheel_trans_right_front" type="pr2_mechanism_model/SimpleTransmission">
    <actuator name="omniwheel_motor_right_front"/>
    <joint name="omni_sphere10_joint_right_front"/>
    <mechanicalReduction>1</mechanicalReduction>
    <motorTorqueConstant>1</motorTorqueConstant>
  </transmission>
  <transmission name="omniwheel_trans_left_rear" type="pr2_mechanism_model/SimpleTransmission">
    <actuator name="omniwheel_motor_left_rear"/>
    <joint name="omni_sphere10_joint_left_rear"/>
    <mechanicalReduction>1</mechanicalReduction>
    <motorTorqueConstant>1</motorTorqueConstant>
  </transmission>
  <transmission name="omniwheel_trans_right_rear" type="pr2_mechanism_model/SimpleTransmission">
    <actuator name="omniwheel_motor_right_rear"/>
    <joint name="omni_sphere10_joint_right_rear"/>
    <mechanicalReduction>1</mechanicalReduction>
    <motorTorqueConstant>1</motorTorqueConstant>
  </transmission>
  <transmission name="omniwheel_trans_left_front" type="pr2_mechanism_model/SimpleTransmission">
    <actuator name="omniwheel_motor_left_front"/>
    <joint name="omni_sphere11_joint_left_front"/>
    <mechanicalReduction>1</mechanicalReduction>
    <motorTorqueConstant>1</motorTorqueConstant>
  </transmission>
  <transmission name="omniwheel_trans_right_front" type="pr2_mechanism_model/SimpleTransmission">
    <actuator name="omniwheel_motor_right_front"/>
    <joint name="omni_sphere11_joint_right_front"/>
    <mechanicalReduction>1</mechanicalReduction>
    <motorTorqueConstant>1</motorTorqueConstant>
  </transmission>
  <transmission name="omniwheel_trans_left_rear" type="pr2_mechanism_model/SimpleTransmission">
    <actuator name="omniwheel_motor_left_rear"/>
    <joint name="omni_sphere11_joint_left_rear"/>
    <mechanicalReduction>1</mechanicalReduction>
    <motorTorqueConstant>1</motorTorqueConstant>
  </transmission>
  <transmission name="omniwheel_trans_right_rear" type="pr2_mechanism_model/SimpleTransmission">
    <actuator name="omniwheel_motor_right_rear"/>
    <joint name="omni_sphere11_joint_right_rear"/>
    <mechanicalReduction>1</mechanicalReduction>
    <motorTorqueConstant>1</motorTorqueConstant>
  </transmission>
  <transmission name="omniwheel_trans_left_front" type="pr2_mechanism_model/SimpleTransmission">
    <actuator name="omniwheel_motor_left_front"/>
    <joint name="omni_sphere12_joint_left_front"/>
    <mechanicalReduction>1</mechanicalReduction>
    <motorTorqueConstant>1</motorTorqueConstant>
  </transmission>
  <transmission name="omniwheel_trans_right_front" type="pr2_mechanism_model/SimpleTransmission">
    <actuator name="omniwheel_motor_right_front"/>
    <joint name="omni_sphere12_joint_right_front"/>
    <mechanicalReduction>1</mechanicalReduction>
    <motorTorqueConstant>1</motorTorqueConstant>
  </transmission>
  <transmission name="omniwheel_trans_left_rear" type="pr2_mechanism_model/SimpleTransmission">
    <actuator name="omniwheel_motor_left_rear"/>
    <joint name="omni_sphere12_joint_left_rear"/>
    <mechanicalReduction>1</mechanicalReduction>
    <motorTorqueConstant>1</motorTorqueConstant>
  </transmission>
  <transmission name="omniwheel_trans_right_rear" type="pr2_mechanism_model/SimpleTransmission">
    <actuator name="omniwheel_motor_right_rear"/>
    <joint name="omni_sphere12_joint_right_rear"/>
    <mechanicalReduction>1</mechanicalReduction>
    <motorTorqueConstant>1</motorTorqueConstant>
  </transmission>
  <transmission name="neck_trans" type="pr2_mechanism_model/SimpleTransmission">
    <actuator name="neck_motor"/>
    <joint name="neck_pan_joint"/>
    <mechanicalReduction>1</mechanicalReduction>
    <motorTorqueConstant>1</motorTorqueConstant>
  </transmission>
  <transmission name="head_trans" type="pr2_mechanism_model/SimpleTransmission">
    <actuator name="head_motor"/>
    <joint name="neck_tilt_joint"/>
    <mechanicalReduction>1</mechanicalReduction>
    <motorTorqueConstant>1</motorTorqueConstant>
  </transmission>
  <transmission name="base_laser_trans" type="pr2_mechanism_model/SimpleTransmission">
    <actuator name="base_laser_motor"/>
    <joint name="base_laser_joint"/>
    <mechanicalReduction>1</mechanicalReduction>
    <motorTorqueConstant>1</motorTorqueConstant>
  </transmission>
  <transmission name="top_laser_trans" type="pr2_mechanism_model/SimpleTransmission">
    <actuator name="top_laser_motor"/>
    <joint name="top_laser_joint"/>
    <mechanicalReduction>1</mechanicalReduction>
    <motorTorqueConstant>1</motorTorqueConstant>
  </transmission>
</robot>
